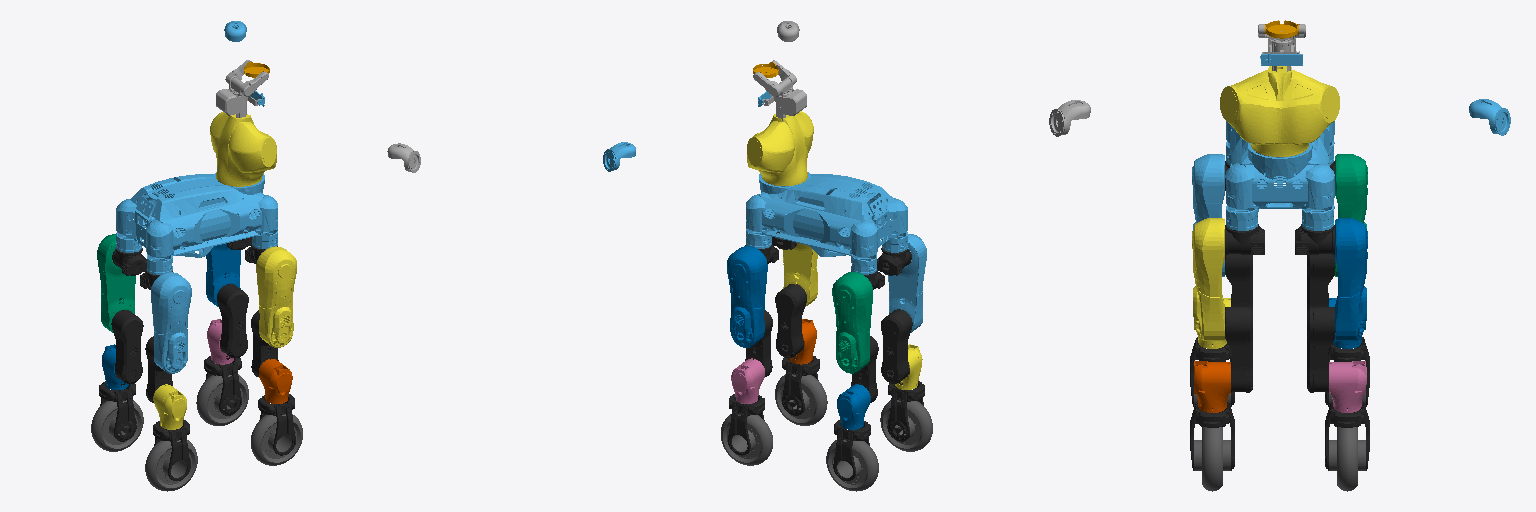
--- Facts derived from the render (not from the file) ---
The picture shows the robot from 3 angles, left to right: view 1: azimuth 30°, elevation 25°; view 2: azimuth 150°, elevation 25°; view 3: azimuth 270°, elevation 25°; orthographic projection.
Model centauro with 96 links and 95 joints (35 revolute, 4 continuous, 55 fixed, 1 floating), rooted at world, posed joints at zero except 2 at the middle of their limits (j_arm1_2 = 1.73, j_arm2_2 = -1.72).
Visible links, largest first — view 1: pelvis, torso_2, hip2_4, hip2_2, hip2_3, knee_3, knee_1, wheel_4, wheel_2, hip2_1, neck_1, wheel_1 (+13 smaller); view 2: pelvis, torso_2, hip2_1, hip2_3, hip2_4, knee_4, knee_2, wheel_3, wheel_1, hip2_2, neck_1, wheel_4 (+13 smaller); view 3: pelvis, torso_2, hip2_1, hip2_2, knee_1, knee_2, hip2_3, hip2_4, wheel_1, wheel_2, ankle1_1, ankle1_2 (+11 smaller).
Boxes of the visible links, box(x1,y1,x2,y2) form: pelvis: box(116, 172, 277, 274); torso_2: box(210, 112, 276, 186); hip2_4: box(151, 272, 191, 373); hip2_2: box(256, 246, 296, 347); hip2_3: box(97, 234, 135, 332); knee_3: box(111, 310, 143, 383); knee_1: box(217, 284, 248, 357); wheel_4: box(145, 440, 197, 491); wheel_2: box(251, 414, 302, 465); hip2_1: box(206, 243, 240, 306); neck_1: box(216, 60, 268, 117); wheel_1: box(196, 374, 248, 425); pelvis: box(746, 172, 907, 274); torso_2: box(747, 111, 813, 185); hip2_1: box(727, 246, 767, 347); hip2_3: box(832, 272, 872, 373); hip2_4: box(888, 234, 926, 332); knee_4: box(881, 309, 912, 383); knee_2: box(775, 284, 806, 357); wheel_3: box(826, 440, 878, 491); wheel_1: box(721, 414, 772, 465); hip2_2: box(782, 243, 817, 306); neck_1: box(753, 60, 806, 120); wheel_4: box(880, 400, 932, 451); pelvis: box(1225, 121, 1334, 230); torso_2: box(1220, 66, 1339, 156); hip2_1: box(1335, 218, 1367, 340); hip2_2: box(1192, 218, 1224, 340); knee_1: box(1307, 307, 1334, 392); knee_2: box(1225, 307, 1252, 392); hip2_3: box(1335, 154, 1367, 276); hip2_4: box(1192, 154, 1224, 276); wheel_1: box(1329, 427, 1365, 491); wheel_2: box(1194, 427, 1230, 491); ankle1_1: box(1329, 361, 1366, 412); ankle1_2: box(1194, 361, 1230, 412).
Bounding box of the posed robot: 1.02 × 1.52 × 1.7 m (x, y, z).
31 mesh visuals loaded from 25 distinct referenced files (12 binary STL); not drawn: 19 (reference not matched to a file when rendering).

URDF robot description (centauro):
<?xml version="1.0" ?>
<!-- =================================================================================== -->
<!-- |    This document was autogenerated by xacro from centauro.urdf.xacro            | -->
<!-- |    EDITING THIS FILE BY HAND IS NOT RECOMMENDED                                 | -->
<!-- =================================================================================== -->
<robot name="centauro">
  <!-- none, ball, dagana_fixed, dagana -->
  <!-- 
  ROS urdf definition of the CENTAURO humanoid robot by Istituto Italiano di Tecnologia
  
  Author: Enrico Mingo Hoffman
-->
  <!-- scaling facto for available peack torque link side, from 0 to 1 -->
  <material name="black">
    <color rgba="0.4 0.4 0.4 1"/>
  </material>
  <material name="dark">
    <color rgba="0.1 0.1 0.1 1"/>
  </material>
  <material name="dark_grey">
    <color rgba="0.2 0.2 0.2 1"/>
  </material>
  <!-- Note: the "23" suffix denotes the new bigger-size wheel -->
  <!-- ??? -->
  <!-- ??? -->
  <!-- Origin -->
  <!-- <xacro:property name="hip_yaw_lower" value="${[-2.827,-2.583, -2.583 ,-2.827]}"/>
<xacro:property name="hip_yaw_upper" value="${[ 2.583, 2.827,  2.827 , 2.583]}"/> -->
  <link name="base_link"/>
  <link name="pelvis">
    <inertial>
      <origin xyz="-0.0016320207 0.0026534004000000003 0.079167428"/>
      <mass value="26.584529"/>
      <inertia ixx="0.39195477" ixy="0.024781258999999996" ixz="0.017108606999999998" iyy="1.0000708999999999" iyz="0.0052627106000000005" izz="1.0679988999999999"/>
    </inertial>
    <visual>
      <origin rpy="0.0 0.0 0.0" xyz="0.0 0 0.0"/>
      <geometry>
        <mesh filename="package://centauro_urdf/meshes/v2/pelvis.stl" scale="0.001 0.001 0.001"/>
      </geometry>
    </visual>
    <collision>
      <origin rpy="0.0 0.0 0.0" xyz="0.0 0 0.0"/>
      <geometry>
        <mesh filename="package://centauro_urdf/meshes/simple/pelvis.stl" scale="0.001 0.001 0.001"/>
      </geometry>
    </collision>
  </link>
  <link name="imu_link"/>
  <joint name="imu_joint" type="fixed">
    <parent link="pelvis"/>
    <origin rpy="0.0 0.0 0.0" xyz="0.248316 0.0 0.015"/>
    <child link="imu_link"/>
  </joint>
  <joint name="base_joint" type="fixed">
    <parent link="pelvis"/>
    <child link="base_link"/>
    <origin rpy="0 0 0" xyz="0 0 0"/>
  </joint>
  <!-- torso links -->
  <link name="torso_2">
    <inertial>
      <origin xyz="-0.019497794 0.0045317835 0.13768283"/>
      <mass value="12.553731"/>
      <inertia ixx="0.063643392" ixy="8.939e-05" ixz="-0.00086873" iyy="0.02680235" iyz="-4.657e-05" izz="0.04743015"/>
    </inertial>
    <visual>
      <origin rpy="0.0 0.0 0.0" xyz="0.0 0 0.0"/>
      <geometry>
        <mesh filename="package://centauro_urdf/meshes/link1_no_head.stl" scale="0.001 0.001 0.001"/>
      </geometry>
    </visual>
    <collision>
      <origin rpy="0.0 0.0 0.0" xyz="0.0 0 0.0"/>
      <geometry>
        <mesh filename="package://centauro_urdf/meshes/simple/link1_no_head.stl" scale="0.001 0.001 0.001"/>
      </geometry>
    </collision>
  </link>
  <!-- /torso links -->
  <!-- torso joints -->
  <joint name="torso_yaw" type="revolute">
    <parent link="pelvis"/>
    <origin xyz="0.2 0.0 0.256"/>
    <child link="torso_2"/>
    <axis xyz="0 0 1"/>
    <limit effort="147" lower="-2.618" upper="2.618" velocity="5.7"/>
    <!-- TODO -->
  </joint>
  <!-- /torso joints -->
  <!-- /macro arms -->
  <!-- LINKS -->
  <!-- shoulder yaw-roll-->
  <link name="arm1_1">
    <inertial>
      <origin xyz="-0.0074457212 0.03410796 0.00010978102"/>
      <mass value="1.9628675"/>
      <inertia ixx="0.0053547717" ixy="0.00036428926" ixz="1.5089568e-05" iyy="0.0033923328" iyz="5.5692312e-05" izz="0.0068921413"/>
    </inertial>
    <visual>
      <origin rpy="0.0 0.0 0.0" xyz="0.0 0.0 0.0"/>
      <geometry>
        <mesh filename="package://centauro_urdf/meshes/ShoulderPitch.STL" scale="0.001 -0.001 0.001"/>
      </geometry>
      <material name="dark_grey"/>
    </visual>
    <collision>
      <origin rpy="0.0 0.0 0.0" xyz="0.0 0.0 0.0"/>
      <geometry>
        <mesh filename="package://centauro_urdf/meshes/simple/ShoulderPitch.STL" scale="0.001 -0.001 0.001"/>
      </geometry>
    </collision>
  </link>
  <!-- shoulder yaw-roll-->
  <!-- shoulder roll-pitch-->
  <link name="arm1_2">
    <inertial>
      <origin xyz="0.058142302 5.7450803e-05 -0.077477683"/>
      <mass value="1.8595811"/>
      <inertia ixx="0.013776643" ixy="3.7788675e-05" ixz="0.0037690171" iyy="0.015677464" iyz="-9.4893549e-06" izz="0.0046317657"/>
    </inertial>
    <visual>
      <origin rpy="0.0 0.0 0.0" xyz="0.0 0.0 0.0"/>
      <geometry>
        <mesh filename="package://centauro_urdf/meshes/ShoulderRoll.STL" scale="0.001 -0.001 0.001"/>
      </geometry>
    </visual>
    <collision>
      <origin rpy="0.0 0.0 0.0" xyz="0.0 0.0 0.0"/>
      <geometry>
        <mesh filename="package://centauro_urdf/meshes/simple/ShoulderRoll.STL" scale="0.001 -0.001 0.001"/>
      </geometry>
    </collision>
  </link>
  <!-- shoulder roll-pitch-->
  <!-- shoulder-elbow -->
  <link name="arm1_3">
    <inertial>
      <origin xyz="0.014625194 0.0008172672 -0.028333545"/>
      <mass value="1.6678109"/>
      <inertia ixx="0.0064480435" ixy="-0.00015639093" ixz="0.0012205359" iyy="0.0073372077" iyz="8.9941532e-05" izz="0.0036738448"/>
    </inertial>
    <visual>
      <origin rpy="0.0 0.0 0.0" xyz="0.0 0.0 0.0"/>
      <geometry>
        <mesh filename="package://centauro_urdf/meshes/ShoulderYaw.STL" scale="0.001 -0.001 0.001"/>
      </geometry>
      <material name="dark_grey"/>
    </visual>
    <collision>
      <origin rpy="0.0 0.0 0.0" xyz="0.0 0.0 0.0"/>
      <geometry>
        <mesh filename="package://centauro_urdf/meshes/simple/ShoulderYaw.STL" scale="0.001 -0.001 0.001"/>
      </geometry>
    </collision>
  </link>
  <!-- /shoulder-elbow -->
  <!-- elbow yaw-pitch -->
  <link name="arm1_4">
    <inertial>
      <origin xyz="-0.0076833067 -0.040302205 -0.043492779"/>
      <mass value="1.3157289"/>
      <inertia ixx="0.004330394" ixy="-0.00011737391" ixz="-0.00041923199" iyy="0.0038539919" iyz="-0.00079573038" izz="0.0017594689"/>
    </inertial>
    <visual>
      <origin rpy="0.0 0.0 0.0" xyz="0.0 0.0 0.0"/>
      <geometry>
        <mesh filename="package://centauro_urdf/meshes/Elbow.STL" scale="0.001 -0.001 0.001"/>
      </geometry>
    </visual>
    <collision>
      <origin rpy="0.0 0.0 0.0" xyz="0.0 0.0 0.0"/>
      <geometry>
        <mesh filename="package://centauro_urdf/meshes/simple/Elbow.STL" scale="0.001 -0.001 0.001"/>
      </geometry>
    </collision>
  </link>
  <!-- /elbow yaw-pitch -->
  <!-- elbow-wrist -->
  <link name="arm1_5">
    <inertial>
      <origin xyz="-0.00011079615 0.011590836 -0.07816026"/>
      <mass value="1.4908547"/>
      <inertia ixx="0.0085692128" ixy="1.7856252e-05" ixz="1.9379365e-05" iyy="0.0077454159" iyz="-0.00032860094" izz="0.0027441921"/>
    </inertial>
    <visual>
      <origin rpy="0.0 0.0 0.0" xyz="0.0 0.0 0.0"/>
      <geometry>
        <mesh filename="package://centauro_urdf/meshes/Forearm.STL" scale="0.001 -0.001 0.001"/>
      </geometry>
      <material name="dark_grey"/>
    </visual>
    <collision>
      <origin rpy="0.0 0.0 0.0" xyz="0.0 0.0 0.0"/>
      <geometry>
        <mesh filename="package://centauro_urdf/meshes/simple/Forearm.STL" scale="0.001 -0.001 0.001"/>
      </geometry>
    </collision>
  </link>
  <!-- /elbow-wrist -->
  <!-- wrist yaw-pitch -->
  <link name="arm1_6">
    <inertial>
      <origin xyz="-4.6502396e-06 -0.038014094 -0.069926878"/>
      <mass value="1.1263612"/>
      <inertia ixx="0.0051871784" ixy="2.724437e-05" ixz="2.2833496e-06" iyy="0.0048037789" iyz="-0.00072165653" izz="0.0012771388"/>
    </inertial>
    <visual>
      <origin rpy="0.0 0.0 0.0" xyz="0.0 0.0 0.0"/>
      <geometry>
        <mesh filename="package://centauro_urdf/meshes/wrist_pitch_right.stl" scale="0.001 -0.001 0.001"/>
      </geometry>
    </visual>
    <collision>
      <origin rpy="0.0 0.0 0.0" xyz="0.0 0.0 0.0"/>
      <geometry>
        <mesh filename="package://centauro_urdf/meshes/simple/wrist_pitch_right.stl" scale="0.001 -0.001 0.001"/>
      </geometry>
    </collision>
  </link>
  <!-- /wrist yaw-pitch -->
  <!-- <link name="arm${arm_num}_7">
      <inertial>
         <origin xyz="${Wrist_3_x} ${rot*Wrist_3_y} ${Wrist_3_z}"/>
         <mass value="${Wrist_3_mass}"/>
         <inertia ixx="${Wrist_3_xx}" ixy="${rot*Wrist_3_xy}" ixz="${Wrist_3_xz}" iyy="${Wrist_3_yy}" iyz="${rot*Wrist_3_yz}" izz="${Wrist_3_zz}"/>
      </inertial>

      <visual>
         <origin xyz="0.0 0.0 0.0"  rpy="0.0 0.0 0.0"/>
   <geometry>
      <mesh filename="package://centauro_urdf/meshes/ForearmYaw.STL" scale="0.001 ${-rot*0.001} 0.001" />
   </geometry>
         <material name="dark_grey"/>
      </visual>

      <collision>
         <origin xyz="0.0 0.0 0.0"  rpy="0.0 0.0 0.0"/>
   <geometry>
      <mesh filename="package://centauro_urdf/meshes/simple/ForearmYaw.STL" scale="0.001 ${-rot*0.001} 0.001" />
   </geometry>
      </collision>
   </link> -->
  <!-- /LINKS -->
  <!-- JOINTS -->
  <!-- shoulder yaw -->
  <joint name="j_arm1_1" type="revolute">
    <parent link="torso_2"/>
    <child link="arm1_1"/>
    <origin rpy="0.174533 0.0 -0.5235988" xyz="0.0457475 0.169137 0.116626"/>
    <axis xyz="0 1 0"/>
    <limit effort="147.0" lower="-3.312" upper="1.615" velocity="3.86"/>
  </joint>
  <!-- /shoulder yaw -->
  <!-- shoulder roll -->
  <joint name="j_arm1_2" type="revolute">
    <parent link="arm1_1"/>
    <child link="arm1_2"/>
    <origin rpy="-0.1745327 0.0 0.0" xyz="-0.09015 0.062 0.0"/>
    <axis xyz="1 0 0"/>
    <limit effort="147.0" lower="0.02" upper="3.431" velocity="3.86"/>
  </joint>
  <!-- /shoulder roll -->
  <!-- shoulder pitch-->
  <joint name="j_arm1_3" type="revolute">
    <parent link="arm1_2"/>
    <child link="arm1_3"/>
    <origin xyz="0.09015 0.0 -0.21815"/>
    <axis xyz="0 0 1"/>
    <limit effort="147.0" lower="-2.552" upper="2.566" velocity="6.06"/>
  </joint>
  <!-- /shoulder pitch -->
  <!-- elbow yaw -->
  <joint name="j_arm1_4" type="revolute">
    <parent link="arm1_3"/>
    <child link="arm1_4"/>
    <origin xyz="0.045 0.05515 -0.074"/>
    <axis xyz="0 1 0"/>
    <limit effort="147.0" lower="-2.465" upper="0.28" velocity="6.06"/>
  </joint>
  <!-- /elbow yaw -->
  <!-- elbow pitch-->
  <joint name="j_arm1_5" type="revolute">
    <parent link="arm1_4"/>
    <child link="arm1_5"/>
    <origin xyz="-0.015 -0.05515 -0.095"/>
    <axis xyz="0 0 1"/>
    <limit effort="55.0" lower="-2.569" upper="2.562" velocity="11.72"/>
  </joint>
  <!-- /elbow pitch-->
  <!-- wrist yaw-->
  <joint name="j_arm1_6" type="revolute">
    <parent link="arm1_5"/>
    <child link="arm1_6"/>
    <origin xyz="0.0 0.049 -0.156"/>
    <axis xyz="0 1 0"/>
    <limit effort="55.0" lower="-1.529" upper="1.509" velocity="11.72"/>
  </joint>
  <!-- /wrist yaw-->
  <!-- wrist pitch-->
  <!-- <joint name="j_arm${arm_num}_7" type="fixed">
      <parent link="arm${arm_num}_6"/>
      <child link="arm${arm_num}_7"/>
      <origin xyz="${Wrist_3_Ox} ${rot*Wrist_3_Oy} ${Wrist_3_Oz}"/>
      <axis xyz="0 0 1"/>
      <limit lower="${j_arm_7_lower[arm_num-1]}" upper="${j_arm_7_upper[arm_num-1]}" effort="${j_arm_7_torque[arm_num-1]}" velocity="${j_arm_7_velocity[arm_num-1]}"/>
   </joint> -->
  <!-- wrist pitch-->
  <!-- force-troque sensor -->
  <!-- end-effector -->
  <!-- wrist pitch-->
  <!-- <joint name="j_ft_${arm_num}" type="fixed">
      <parent link="arm${arm_num}_7"/>
      <child link="ft_arm${arm_num}"/>
      <origin xyz="${Ft_arm_Ox} ${Ft_arm_Oy} ${Ft_arm_Oz}" rpy="${Ft_arm_roll} ${Ft_arm_pitch} ${Ft_arm_yaw}" />
      <axis xyz="0 0 1"/>
      <limit lower="0.0" upper="0.0" effort="0" velocity="0"/>
   </joint> -->
  <!-- wrist pitch-->
  <!-- <link name="ft_arm${arm_num}">
      <inertial>
         <origin xyz="${Ft_arm_x} ${rot*Ft_arm_y} ${Ft_arm_z}"/>
         <mass value="${Ft_arm_mass}"/>
         <inertia ixx="${Ft_arm_xx}" ixy="${rot*Ft_arm_xy}" ixz="${Ft_arm_xz}" iyy="${Ft_arm_yy}" iyz="${rot*Ft_arm_yz}" izz="${Ft_arm_zz}"/>
      </inertial> -->
  <!--visual>
         <origin xyz="0.0 0.0 0.0"  rpy="${PI} 0.0 0.0"/>
   <geometry>
      <mesh filename="package://centauro_urdf/meshes/Wrist.STL" scale="0.001 ${-rot*0.001} 0.001" />
   </geometry>
      </visual-->
  <!--collision>
         <origin xyz="0.0 0.0 0.0"  rpy="${PI} 0.0 0.0"/>
   <geometry>
      <mesh filename="package://centauro_urdf/meshes/simple/Wrist.STL" scale="0.001 ${-rot*0.001} 0.001" />
   </geometry>
      </collision-->
  <!-- </link> -->
  <!-- LINKS -->
  <!-- shoulder yaw-roll-->
  <link name="arm2_1">
    <inertial>
      <origin xyz="-0.0074457212 -0.03410796 0.00010978102"/>
      <mass value="1.9628675"/>
      <inertia ixx="0.0053547717" ixy="-0.00036428926" ixz="1.5089568e-05" iyy="0.0033923328" iyz="-5.5692312e-05" izz="0.0068921413"/>
    </inertial>
    <visual>
      <origin rpy="0.0 0.0 0.0" xyz="0.0 0.0 0.0"/>
      <geometry>
        <mesh filename="package://centauro_urdf/meshes/ShoulderPitch.STL" scale="0.001 0.001 0.001"/>
      </geometry>
      <material name="dark_grey"/>
    </visual>
    <collision>
      <origin rpy="0.0 0.0 0.0" xyz="0.0 0.0 0.0"/>
      <geometry>
        <mesh filename="package://centauro_urdf/meshes/simple/ShoulderPitch.STL" scale="0.001 0.001 0.001"/>
      </geometry>
    </collision>
  </link>
  <!-- shoulder yaw-roll-->
  <!-- shoulder roll-pitch-->
  <link name="arm2_2">
    <inertial>
      <origin xyz="0.058142302 -5.7450803e-05 -0.077477683"/>
      <mass value="1.8595811"/>
      <inertia ixx="0.013776643" ixy="-3.7788675e-05" ixz="0.0037690171" iyy="0.015677464" iyz="9.4893549e-06" izz="0.0046317657"/>
    </inertial>
    <visual>
      <origin rpy="0.0 0.0 0.0" xyz="0.0 0.0 0.0"/>
      <geometry>
        <mesh filename="package://centauro_urdf/meshes/ShoulderRoll.STL" scale="0.001 0.001 0.001"/>
      </geometry>
    </visual>
    <collision>
      <origin rpy="0.0 0.0 0.0" xyz="0.0 0.0 0.0"/>
      <geometry>
        <mesh filename="package://centauro_urdf/meshes/simple/ShoulderRoll.STL" scale="0.001 0.001 0.001"/>
      </geometry>
    </collision>
  </link>
  <!-- shoulder roll-pitch-->
  <!-- shoulder-elbow -->
  <link name="arm2_3">
    <inertial>
      <origin xyz="0.014625194 -0.0008172672 -0.028333545"/>
      <mass value="1.6678109"/>
      <inertia ixx="0.0064480435" ixy="0.00015639093" ixz="0.0012205359" iyy="0.0073372077" iyz="-8.9941532e-05" izz="0.0036738448"/>
    </inertial>
    <visual>
      <origin rpy="0.0 0.0 0.0" xyz="0.0 0.0 0.0"/>
      <geometry>
        <mesh filename="package://centauro_urdf/meshes/ShoulderYaw.STL" scale="0.001 0.001 0.001"/>
      </geometry>
      <material name="dark_grey"/>
    </visual>
    <collision>
      <origin rpy="0.0 0.0 0.0" xyz="0.0 0.0 0.0"/>
      <geometry>
        <mesh filename="package://centauro_urdf/meshes/simple/ShoulderYaw.STL" scale="0.001 0.001 0.001"/>
      </geometry>
    </collision>
  </link>
  <!-- /shoulder-elbow -->
  <!-- elbow yaw-pitch -->
  <link name="arm2_4">
    <inertial>
      <origin xyz="-0.0076833067 0.040302205 -0.043492779"/>
      <mass value="1.3157289"/>
      <inertia ixx="0.004330394" ixy="0.00011737391" ixz="-0.00041923199" iyy="0.0038539919" iyz="0.00079573038" izz="0.0017594689"/>
    </inertial>
    <visual>
      <origin rpy="0.0 0.0 0.0" xyz="0.0 0.0 0.0"/>
      <geometry>
        <mesh filename="package://centauro_urdf/meshes/Elbow.STL" scale="0.001 0.001 0.001"/>
      </geometry>
    </visual>
    <collision>
      <origin rpy="0.0 0.0 0.0" xyz="0.0 0.0 0.0"/>
      <geometry>
        <mesh filename="package://centauro_urdf/meshes/simple/Elbow.STL" scale="0.001 0.001 0.001"/>
      </geometry>
    </collision>
  </link>
  <!-- /elbow yaw-pitch -->
  <!-- elbow-wrist -->
  <link name="arm2_5">
    <inertial>
      <origin xyz="-0.00011079615 -0.011590836 -0.07816026"/>
      <mass value="1.4908547"/>
      <inertia ixx="0.0085692128" ixy="-1.7856252e-05" ixz="1.9379365e-05" iyy="0.0077454159" iyz="0.00032860094" izz="0.0027441921"/>
    </inertial>
    <visual>
      <origin rpy="0.0 0.0 0.0" xyz="0.0 0.0 0.0"/>
      <geometry>
        <mesh filename="package://centauro_urdf/meshes/Forearm.STL" scale="0.001 0.001 0.001"/>
      </geometry>
      <material name="dark_grey"/>
    </visual>
    <collision>
      <origin rpy="0.0 0.0 0.0" xyz="0.0 0.0 0.0"/>
      <geometry>
        <mesh filename="package://centauro_urdf/meshes/simple/Forearm.STL" scale="0.001 0.001 0.001"/>
      </geometry>
    </collision>
  </link>
  <!-- /elbow-wrist -->
  <!-- wrist yaw-pitch -->
  <link name="arm2_6">
    <inertial>
      <origin xyz="-4.6502396e-06 0.038014094 -0.069926878"/>
      <mass value="1.1263612"/>
      <inertia ixx="0.0051871784" ixy="-2.724437e-05" ixz="2.2833496e-06" iyy="0.0048037789" iyz="0.00072165653" izz="0.0012771388"/>
    </inertial>
    <visual>
      <origin rpy="0.0 0.0 0.0" xyz="0.0 0.0 0.0"/>
      <geometry>
        <mesh filename="package://centauro_urdf/meshes/wrist_pitch_right.stl" scale="0.001 0.001 0.001"/>
      </geometry>
    </visual>
    <collision>
      <origin rpy="0.0 0.0 0.0" xyz="0.0 0.0 0.0"/>
      <geometry>
        <mesh filename="package://centauro_urdf/meshes/simple/wrist_pitch_right.stl" scale="0.001 0.001 0.001"/>
      </geometry>
    </collision>
  </link>
  <!-- /wrist yaw-pitch -->
  <!-- <link name="arm${arm_num}_7">
      <inertial>
         <origin xyz="${Wrist_3_x} ${rot*Wrist_3_y} ${Wrist_3_z}"/>
         <mass value="${Wrist_3_mass}"/>
         <inertia ixx="${Wrist_3_xx}" ixy="${rot*Wrist_3_xy}" ixz="${Wrist_3_xz}" iyy="${Wrist_3_yy}" iyz="${rot*Wrist_3_yz}" izz="${Wrist_3_zz}"/>
      </inertial>

      <visual>
         <origin xyz="0.0 0.0 0.0"  rpy="0.0 0.0 0.0"/>
   <geometry>
      <mesh filename="package://centauro_urdf/meshes/ForearmYaw.STL" scale="0.001 ${-rot*0.001} 0.001" />
   </geometry>
         <material name="dark_grey"/>
      </visual>

      <collision>
         <origin xyz="0.0 0.0 0.0"  rpy="0.0 0.0 0.0"/>
   <geometry>
      <mesh filename="package://centauro_urdf/meshes/simple/ForearmYaw.STL" scale="0.001 ${-rot*0.001} 0.001" />
   </geometry>
      </collision>
   </link> -->
  <!-- /LINKS -->
  <!-- JOINTS -->
  <!-- shoulder yaw -->
  <joint name="j_arm2_1" type="revolute">
    <parent link="torso_2"/>
    <child link="arm2_1"/>
    <origin rpy="-0.174533 0.0 0.5235988" xyz="0.0457475 -0.169137 0.116626"/>
    <axis xyz="0 1 0"/>
    <limit effort="147.0" lower="-3.3458" upper="1.6012" velocity="3.86"/>
  </joint>
  <!-- /shoulder yaw -->
  <!-- shoulder roll -->
  <joint name="j_arm2_2" type="revolute">
    <parent link="arm2_1"/>
    <child link="arm2_2"/>
    <origin rpy="0.1745327 0.0 0.0" xyz="-0.09015 -0.062 0.0"/>
    <axis xyz="1 0 0"/>
    <limit effort="147.0" lower="-3.4258" upper="-0.0138" velocity="3.86"/>
  </joint>
  <!-- /shoulder roll -->
  <!-- shoulder pitch-->
  <joint name="j_arm2_3" type="revolute">
    <parent link="arm2_2"/>
    <child link="arm2_3"/>
    <origin xyz="0.09015 0.0 -0.21815"/>
    <axis xyz="0 0 1"/>
    <limit effort="147.0" lower="-2.5614" upper="2.5606" velocity="6.06"/>
  </joint>
  <!-- /shoulder pitch -->
  <!-- elbow yaw -->
  <joint name="j_arm2_4" type="revolute">
    <parent link="arm2_3"/>
    <child link="arm2_4"/>
    <origin xyz="0.045 -0.05515 -0.074"/>
    <axis xyz="0 1 0"/>
    <limit effort="147.0" lower="-2.4794" upper="0.2886" velocity="6.06"/>
  </joint>
  <!-- /elbow yaw -->
  <!-- elbow pitch-->
  <joint name="j_arm2_5" type="revolute">
    <parent link="arm2_4"/>
    <child link="arm2_5"/>
    <origin xyz="-0.015 0.05515 -0.095"/>
    <axis xyz="0 0 1"/>
    <limit effort="55.0" lower="-2.5394" upper="2.5546" velocity="11.72"/>
  </joint>
  <!-- /elbow pitch-->
  <!-- wrist yaw-->
  <joint name="j_arm2_6" type="revolute">
    <parent link="arm2_5"/>
    <child link="arm2_6"/>
    <origin xyz="0.0 -0.049 -0.156"/>
    <axis xyz="0 1 0"/>
    <limit effort="55.0" lower="-1.5154" upper="1.5156" velocity="11.72"/>
  </joint>
  <!-- /wrist yaw-->
  <!-- wrist pitch-->
  <!-- <joint name="j_arm${arm_num}_7" type="fixed">
      <parent link="arm${arm_num}_6"/>
      <child link="arm${arm_num}_7"/>
      <origin xyz="${Wrist_3_Ox} ${rot*Wrist_3_Oy} ${Wrist_3_Oz}"/>
      <axis xyz="0 0 1"/>
      <limit lower="${j_arm_7_lower[arm_num-1]}" upper="${j_arm_7_upper[arm_num-1]}" effort="${j_arm_7_torque[arm_num-1]}" velocity="${j_arm_7_velocity[arm_num-1]}"/>
   </joint> -->
  <!-- wrist pitch-->
  <!-- force-troque sensor -->
  <!-- end-effector -->
  <!-- wrist pitch-->
  <!-- <joint name="j_ft_${arm_num}" type="fixed">
      <parent link="arm${arm_num}_7"/>
      <child link="ft_arm${arm_num}"/>
      <origin xyz="${Ft_arm_Ox} ${Ft_arm_Oy} ${Ft_arm_Oz}" rpy="${Ft_arm_roll} ${Ft_arm_pitch} ${Ft_arm_yaw}" />
      <axis xyz="0 0 1"/>
      <limit lower="0.0" upper="0.0" effort="0" velocity="0"/>
   </joint> -->
  <!-- wrist pitch-->
  <!-- <link name="ft_arm${arm_num}">
      <inertial>
         <origin xyz="${Ft_arm_x} ${rot*Ft_arm_y} ${Ft_arm_z}"/>
         <mass value="${Ft_arm_mass}"/>
         <inertia ixx="${Ft_arm_xx}" ixy="${rot*Ft_arm_xy}" ixz="${Ft_arm_xz}" iyy="${Ft_arm_yy}" iyz="${rot*Ft_arm_yz}" izz="${Ft_arm_zz}"/>
      </inertial> -->
  <!--visual>
         <origin xyz="0.0 0.0 0.0"  rpy="${PI} 0.0 0.0"/>
   <geometry>
      <mesh filename="package://centauro_urdf/meshes/Wrist.STL" scale="0.001 ${-rot*0.001} 0.001" />
   </geometry>
      </visual-->
  <!--collision>
         <origin xyz="0.0 0.0 0.0"  rpy="${PI} 0.0 0.0"/>
   <geometry>
      <mesh filename="package://centauro_urdf/meshes/simple/Wrist.STL" scale="0.001 ${-rot*0.001} 0.001" />
   </geometry>
      </collision-->
  <!-- </link> -->
  <link name="ball1">
    <inertial>
      <origin rpy="0 0 0" xyz="-1.0072498e-05 3.7590658e-05 0.019772332"/>
      <mass value="1.27"/>
      <inertia ixx="0.0023061092" ixy="2.9181758e-07" ixz="-2.1246683999999997e-07" iyy="0.0023053155000000002" iyz="7.9290978e-07" izz="0.0030675615999999997"/>
    </inertial>
    <visual>
      <origin rpy="0.0 0.0 0.0" xyz="0.0 0.0 0.0"/>
      <geometry name="ball1_visual">
        <mesh filename="package://centauro_urdf/meshes/BallHand.stl" scale="0.001 0.001 0.001"/>
      </geometry>
      <material name="dark_grey"/>
    </visual>
    <collision>
      <origin rpy="0.0 0.0 0.0" xyz="0.0 0.0 0.0"/>
      <geometry name="ball1_collision">
        <mesh filename="package://centauro_urdf/meshes/simple/BallHand.stl" scale="0.001 0.001 0.001"/>
      </geometry>
    </collision>
  </link>
  <link name="ball1_tip"/>
  <joint name="j_arm1_8" type="fixed">
    <parent link="arm1_6"/>
    <child link="ball1"/>
    <origin rpy="0. 0. 0." xyz="0. -0.05 -0.105"/>
  </joint>
  <joint name="j_ball1_tip" type="fixed">
    <parent link="ball1"/>
    <child link="ball1_tip"/>
    <origin rpy="0 0 0" xyz="0 0 -0.07"/>
  </joint>
  <!-- add armX_8 link for legacy reasons (same as ballX) -->
  <joint name="j_ball1_fixed" type="fixed">
    <parent link="ball1"/>
    <child link="arm1_8"/>
  </joint>
  <link name="arm1_8">
    <inertial>
      <mass value="0"/>
      <inertia ixx="0" ixy="0" ixz="0" iyy="0" iyz="0" izz="0"/>
    </inertial>
  </link>
  <joint name="dagana_2_mount_joint" type="fixed">
    <origin rpy="0. 3.14159265359 0" xyz="0. 0.05 -0.08"/>
    <parent link="arm2_6"/>
    <child link="dagana_2_top_link"/>
  </joint>
  <link name="dagana_2_top_link">
    <inertial>
      <origin rpy="0 0 0" xyz="-0.0063562154 -0.0060265532000000005  0.060068288000000004"/>
      <mass value="1.7432400"/>
      <inertia ixx="0.0050510328" ixy="-0.00025264216" ixz="-0.00012103013" iyy="0.0047944612" iyz="-0.00073917704" izz="0.0031156997"/>
    </inertial>
    <visual>
      <origin rpy="0 0 0" xyz="0 0 0"/>
      <geometry>
        <mesh filename="package://dagana_urdf/meshes/dg0001-simplified.stl" scale="0.001 0.001 0.001"/>
      </geometry>
      <material name="dark_grey"/>
    </visual>
    <collision>
      <origin rpy="0 0 0" xyz="0 0 0"/>
      <geometry>
        <mesh filename="package://dagana_urdf/meshes/dg0001-ch.stl" scale="0.001 0.001 0.001"/>
      </geometry>
      <material name="dark_grey"/>
    </collision>
  </link>
  <joint name="dagana_2_claw_joint" type="fixed">
    <origin rpy="1.57079632679 0 3.14159265359" xyz="0.0 -0.028 0.05025"/>
    <parent link="dagana_2_top_link"/>
    <child link="dagana_2_bottom_link"/>
    <axis xyz="-1 0 0"/>
    <limit effort="1000" lower="0" upper="1" velocity="2.0"/>
  </joint>
  <link name="dagana_2_bottom_link">
    <inertial>
      <origin rpy="0 0 0" xyz="0.069644767 0.0026548329 -0.041960263"/>
      <mass value="4.6117745e-01"/>
      <inertia ixx="0.0009385556899999999" ixy="-0.000264452" ixz="7.134683e-05" iyy="0.0019472731" iyz="2.529065e-06" izz="0.0014726990999999999"/>
    </inertial>
    <visual>
      <origin rpy="0 0 0" xyz="0 0 0"/>
      <geometry>
        <mesh filename="package://dagana_urdf/meshes/dg0002.stl" scale="0.001 0.001 0.001"/>
      </geometry>
      <material name="dark_grey"/>
    </visual>
    <collision>
      <origin rpy="0 0 0" xyz="0 0 0"/>
      <geometry>
        <mesh filename="package://dagana_urdf/meshes/dg0002-ch.stl" scale="0.001 0.001 0.001"/>
      </geometry>
      <material name="dark_grey"/>
    </collision>
  </link>
  <!-- Manually put to have a transform in a "good" grasping spot-->
  <joint name="dagana_2_tcp_joint" type="fixed">
    <origin rpy="0 0 0" xyz="0 -0.05 0.15"/>
    <parent link="dagana_2_top_link"/>
    <child link="dagana_2_tcp"/>
  </joint>
  <link name="dagana_2_tcp"/>
  <!-- add armX_8 link for compliance with srdf file -->
  <joint name="j_dagana_2_final" type="fixed">
    <parent link="dagana_2_bottom_link"/>
    <child link="arm2_8"/>
  </joint>
  <link name="arm2_8">
    <inertial>
      <mass value="0"/>
      <inertia ixx="0" ixy="0" ixz="0" iyy="0" iyz="0" izz="0"/>
    </inertial>
  </link>
  <!-- LINKS -->
  <link name="neck_1">
    <inertial>
      <origin xyz="0 0 0"/>
      <mass value="0.33878686"/>
      <!-- MASS/INERTIA TO DO -->
      <inertia ixx="0.0003718568" ixy="-9.42983e-05" ixz="-2.80644e-05" iyy="0.0001886879" iyz="-1.54534e-05" izz="0.0005023443"/>
    </inertial>
    <visual>
      <origin rpy="0.0 0.0 0.0" xyz="0.0 0 0.0"/>
      <geometry>
        <mesh filename="package://centauro_urdf/meshes/head-base_mesh.stl" scale="0.001 0.001 0.001"/>
      </geometry>
    </visual>
    <collision>
      <origin rpy="0.0 0.0 0.0" xyz="0.0 0 0.0"/>
      <geometry>
        <mesh filename="package://centauro_urdf/meshes/simple/head-base_mesh.stl" scale="0.001 0.001 0.001"/>
      </geometry>
    </collision>
  </link>
  <link name="velodyne_motor">
    <inertial>
      <origin xyz="0 0 0"/>
      <mass value="0.33878686"/>
      <!-- MASS/INERTIA TO DO -->
      <inertia ixx="0.0003718568" ixy="-9.42983e-05" ixz="-2.80644e-05" iyy="0.0001886879" iyz="-1.54534e-05" izz="0.0005023443"/>
    </inertial>
    <visual>
      <origin rpy="0.0 0.0 0.0" xyz="0.0 0 0.0"/>
      <geometry>
        <mesh filename="package://centauro_urdf/meshes/lidar_mesh.stl" scale="0.001 0.001 0.001"/>
      </geometry>
    </visual>
    <collision>
      <origin rpy="0.0 0.0 0.0" xyz="0.0 0 0.0"/>
      <geometry>
        <mesh filename="package://centauro_urdf/meshes/simple/lidar_mesh.stl" scale="0.001 0.001 0.001"/>
      </geometry>
    </collision>
  </link>
  <link name="d435_head_motor">
    <inertial>
      <origin xyz="0 0 0"/>
      <mass value="0.33878686"/>
      <!-- MASS/INERTIA TO DO -->
      <inertia ixx="0.0003718568" ixy="-9.42983e-05" ixz="-2.80644e-05" iyy="0.0001886879" iyz="-1.54534e-05" izz="0.0005023443"/>
    </inertial>
    <visual>
      <origin rpy="0.0 0.0 0.0" xyz="0.0 0 0.0"/>
      <geometry>
        <mesh filename="package://centauro_urdf/meshes/neck-pitch_mesh.stl" scale="0.001 0.001 0.001"/>
      </geometry>
    </visual>
    <collision>
      <origin rpy="0.0 0.0 0.0" xyz="0.0 0 0.0"/>
      <geometry>
        <mesh filename="package://centauro_urdf/meshes/simple/neck-pitch_mesh.stl" scale="0.001 0.001 0.001"/>
      </geometry>
    </collision>
  </link>
  <link name="d435_head_calib"/>
  <joint name="d435_head_calib_joint" type="fixed">
    <parent link="d435_head_motor"/>
    <child link="d435_head_calib"/>
    <!-- <origin xyz="1.06832322 0.03353594 0.1387841" rpy="-0.03851041 0.29866375 -0.06730427"/> -->
  </joint>
  <!--JOINTS -->
  <joint name="neck_base" type="fixed">
    <parent link="torso_2"/>
    <origin rpy="0 0 0" xyz="0.0030637045 0.0061607221 0.158"/>
    <child link="neck_1"/>
    <axis xyz="0 0 1"/>
  </joint>
  <joint name="velodyne_joint" type="revolute">
    <parent link="neck_1"/>
    <origin rpy="0 0 0" xyz="0.0822724 0 0.242"/>
    <child link="velodyne_motor"/>
    <axis xyz="0 -1 0"/>
    <limit effort="35" lower="-1.1" upper="1.1" velocity="5.7"/>
    <dynamics friction="10.0"/>
  </joint>
  <joint name="d435_head_joint" type="revolute">
    <parent link="neck_1"/>
    <origin rpy="0 0 0" xyz="0.06 0 0.1375"/>
    <child link="d435_head_motor"/>
    <axis xyz="0 -1 0"/>
    <limit effort="35" lower="-1.1" upper="1.1" velocity="5.7"/>
    <dynamics friction="10.0"/>
  </joint>
  <material name="D435_head_camera_aluminum">
    <color rgba="0.5 0.5 0.5 1"/>
  </material>
  <!-- camera body, with origin at bottom screw mount -->
  <joint name="D435_head_camera_joint" type="fixed">
    <origin rpy="0 0 0" xyz="0.03015 0 -0.0125"/>
    <parent link="d435_head_calib"/>
    <child link="D435_head_camera_bottom_screw_frame"/>
  </joint>
  <link name="D435_head_camera_bottom_screw_frame"/>
  <joint name="D435_head_camera_link_joint" type="fixed">
    <origin rpy="0 0 0" xyz="0 0.0175 0.0125"/>
    <parent link="D435_head_camera_bottom_screw_frame"/>
    <child link="D435_head_camera_link"/>
  </joint>
  <link name="D435_head_camera_link">
    <visual>
      <origin rpy="1.5707963267948966 0 1.5707963267948966" xyz="0.0149 -0.0175 0"/>
      <geometry>
        <!-- <box size="${d435i_cam_width} ${d435i_cam_height} ${d435i_cam_depth}"/> -->
        <mesh filename="package://realsense2_description/meshes/d435.dae"/>
        <!--<mesh filename="package://realsense2_description/meshes/d435/d435.dae"/>-->
      </geometry>
      <material name="D435_head_camera_aluminum"/>
    </visual>
    <collision>
      <origin rpy="0 0 0" xyz="0 -0.0175 0"/>
      <geometry>
        <box size="0.02505 0.09 0.025"/>
      </geometry>
    </collision>
    <inertial>
      <!-- The following are not reliable values, and should not be used for modeling -->
      <mass value="0.564"/>
      <origin xyz="0 0 0"/>
      <inertia ixx="0.003881243" ixy="0.0" ixz="0.0" iyy="0.000498940" iyz="0.0" izz="0.003879257"/>
    </inertial>
  </link>
  <!-- camera depth joints and links -->
  <joint name="D435_head_camera_depth_joint" type="fixed">
    <origin rpy="0 0 0" xyz="0 0 0"/>
    <parent link="D435_head_camera_link"/>
    <child link="D435_head_camera_depth_frame"/>
  </joint>
  <link name="D435_head_camera_depth_frame"/>
  <joint name="D435_head_camera_depth_optical_joint" type="fixed">
    <origin rpy="-1.5707963267948966 0 -1.5707963267948966" xyz="0 0 0"/>
    <parent link="D435_head_camera_depth_frame"/>
    <child link="D435_head_camera_depth_optical_frame"/>
  </joint>
  <link name="D435_head_camera_depth_optical_frame"/>
  <!-- camera left IR joints and links -->
  <joint name="D435_head_camera_left_ir_joint" type="fixed">
    <origin rpy="0 0 0" xyz="0 0.0 0"/>
    <parent link="D435_head_camera_depth_frame"/>
    <child link="D435_head_camera_left_ir_frame"/>
  </joint>
  <link name="D435_head_camera_left_ir_frame"/>
  <joint name="D435_head_camera_left_ir_optical_joint" type="fixed">
    <origin rpy="-1.5707963267948966 0 -1.5707963267948966" xyz="0 0 0"/>
    <parent link="D435_head_camera_left_ir_frame"/>
    <child link="D435_head_camera_left_ir_optical_frame"/>
  </joint>
  <link name="D435_head_camera_left_ir_optical_frame"/>
  <!-- camera right IR joints and links -->
  <joint name="D435_head_camera_right_ir_joint" type="fixed">
    <origin rpy="0 0 0" xyz="0 -0.05 0"/>
    <parent link="D435_head_camera_depth_frame"/>
    <child link="D435_head_camera_right_ir_frame"/>
  </joint>
  <link name="D435_head_camera_right_ir_frame"/>
  <joint name="D435_head_camera_right_ir_optical_joint" type="fixed">
    <origin rpy="-1.5707963267948966 0 -1.5707963267948966" xyz="0 0 0"/>
    <parent link="D435_head_camera_right_ir_frame"/>
    <child link="D435_head_camera_right_ir_optical_frame"/>
  </joint>
  <link name="D435_head_camera_right_ir_optical_frame"/>
  <!-- camera color joints and links -->
  <joint name="D435_head_camera_color_joint" type="fixed">
    <origin rpy="0 0 0" xyz="0 0.015 0"/>
    <parent link="D435_head_camera_depth_frame"/>
    <child link="D435_head_camera_color_frame"/>
  </joint>
  <link name="D435_head_camera_color_frame"/>
  <joint name="D435_head_camera_color_optical_joint" type="fixed">
    <origin rpy="-1.5707963267948966 0 -1.5707963267948966" xyz="0 0 0"/>
    <parent link="D435_head_camera_color_frame"/>
    <child link="D435_head_camera_color_optical_frame"/>
  </joint>
  <link name="D435_head_camera_color_optical_frame"/>
  <!-- camera accel joints and links -->
  <joint name="D435_head_camera_accel_joint" type="fixed">
    <origin rpy="0 0 0" xyz="-0.00174 0.00552 0.0176"/>
    <parent link="D435_head_camera_link"/>
    <child link="D435_head_camera_accel_frame"/>
  </joint>
  <link name="D435_head_camera_accel_frame"/>
  <joint name="D435_head_camera_accel_optical_joint" type="fixed">
    <origin rpy="-1.5707963267948966 0 -1.5707963267948966" xyz="0 0 0"/>
    <parent link="D435_head_camera_accel_frame"/>
    <child link="D435_head_camera_accel_optical_frame"/>
  </joint>
  <link name="D435_head_camera_accel_optical_frame"/>
  <!-- camera gyro joints and links -->
  <joint name="D435_head_camera_gyro_joint" type="fixed">
    <origin rpy="0 0 0" xyz="-0.00174 0.00552 0.0176"/>
    <parent link="D435_head_camera_link"/>
    <child link="D435_head_camera_gyro_frame"/>
  </joint>
  <link name="D435_head_camera_gyro_frame"/>
  <joint name="D435_head_camera_gyro_optical_joint" type="fixed">
    <origin rpy="-1.5707963267948966 0 -1.5707963267948966" xyz="0 0 0"/>
    <parent link="D435_head_camera_gyro_frame"/>
    <child link="D435_head_camera_gyro_optical_frame"/>
  </joint>
  <link name="D435_head_camera_gyro_optical_frame"/>
  <gazebo reference="D435_head_camera_link">
    <self_collide>0</self_collide>
    <enable_wind>0</enable_wind>
    <kinematic>0</kinematic>
    <!-- <gravity>1</gravity> -->
    <!--<mu>1</mu>-->
    <mu2>1</mu2>
    <fdir1>0 0 0</fdir1>
    <!--<slip1>0</slip1>
      <slip2>0</slip2>-->
    <kp>1e+13</kp>
    <kd>1</kd>
    <!--<max_vel>0.01</max_vel>
      <min_depth>0</min_depth>-->
    <sensor name="D435_head_cameracolor" type="camera">
      <camera name="D435_head_camera">
        <horizontal_fov>1.2112585008840648</horizontal_fov>
        <image>
          <width>1280</width>
          <height>720</height>
          <format>RGB_INT8</format>
        </image>
        <clip>
          <near>0.1</near>
          <far>100</far>
        </clip>
        <noise>
          <type>gaussian</type>
          <mean>0.0</mean>
          <stddev>0.007</stddev>
        </noise>
      </camera>
      <always_on>1</always_on>
      <update_rate>30</update_rate>
      <visualize>False</visualize>
    </sensor>
    <sensor name="D435_head_cameraired1" type="camera">
      <camera name="D435_head_camera">
        <horizontal_fov>1.4870205226991688</horizontal_fov>
        <image>
          <width>1280</width>
          <height>720</height>
          <format>L_INT8</format>
        </image>
        <clip>
          <near>0.1</near>
          <far>100</far>
        </clip>
        <noise>
          <type>gaussian</type>
          <mean>0.0</mean>
          <stddev>0.05</stddev>
        </noise>
      </camera>
      <always_on>1</always_on>
      <update_rate>90</update_rate>
      <visualize>false</visualize>
    </sensor>
    <sensor name="D435_head_cameraired2" type="camera">
      <camera name="D435_head_camera">
        <horizontal_fov>1.4870205226991688</horizontal_fov>
        <image>
          <width>1280</width>
          <height>720</height>
          <format>L_INT8</format>
        </image>
        <clip>
          <near>0.1</near>
          <far>100</far>
        </clip>
        <noise>
          <type>gaussian</type>
          <mean>0.0</mean>
          <stddev>0.05</stddev>
        </noise>
      </camera>
      <always_on>1</always_on>
      <update_rate>90</update_rate>
      <visualize>false</visualize>
    </sensor>
    <sensor name="D435_head_cameradepth" type="depth">
      <camera name="D435_head_camera">
        <horizontal_fov>1.2112585008840648</horizontal_fov>
        <image>
          <width>1280</width>
          <height>720</height>
        </image>
        <clip>
          <near>0.1</near>
          <far>100</far>
        </clip>
        <noise>
          <type>gaussian</type>
          <mean>0.0</mean>
          <stddev>0.100</stddev>
        </noise>
      </camera>
      <always_on>1</always_on>
      <update_rate>30</update_rate>
      <visualize>false</visualize>
    </sensor>
    <sensor name="D435_head_cameraaccel" type="imu">
      <always_on>true</always_on>
      <update_rate>300</update_rate>
      <topic>D435_head_camera/accel/sample</topic>
      <plugin filename="librealsense_gazebo_accel_sensor.so" name="D435_head_camera_accel_plugin">
        <topicName>D435_head_camera/accel/sample</topicName>
        <bodyName>D435_head_camera_link</bodyName>
        <updateRateHZ>300</updateRateHZ>
        <gaussianNoise>0.1</gaussianNoise>
        <xyzOffset>0 0 0</xyzOffset>
        <rpyOffset>0 0 0</rpyOffset>
        <frameName>D435_head_camera_accel_optical_frame</frameName>
        <initialOrientationAsReference>false</initialOrientationAsReference>
      </plugin>
      <pose>0 0 0 0 0 0</pose>
    </sensor>
    <sensor name="D435_head_cameragyro" type="imu">
      <always_on>true</always_on>
      <update_rate>300</update_rate>
      <topic>D435_head_camera/gyro/sample</topic>
      <plugin filename="librealsense_gazebo_gyro_sensor.so" name="D435_head_camera_gyro_plugin">
        <topicName>D435_head_camera/gyro/sample</topicName>
        <bodyName>D435_head_camera_link</bodyName>
        <updateRateHZ>300</updateRateHZ>
        <gaussianNoise>0.1</gaussianNoise>
        <xyzOffset>0 0 0</xyzOffset>
        <rpyOffset>0 0 0</rpyOffset>
        <frameName>D435_head_camera_gyro_optical_frame</frameName>
        <initialOrientationAsReference>false</initialOrientationAsReference>
      </plugin>
    </sensor>
  </gazebo>
  <gazebo>
    <plugin filename="librealsense_gazebo_plugin.so" name="D435_head_camera">
      <prefix>D435_head_camera</prefix>
      <!-- Color camera settings -->
      <colorUpdateRate>30</colorUpdateRate>
      <colorTopicName>color/image_raw</colorTopicName>
      <colorOpticalframeName>D435_head_camera_color_optical_frame</colorOpticalframeName>
      <colorCameraInfoTopicName>color/camera_info</colorCameraInfoTopicName>
      <!-- Infrared camera settings -->
      <infraredUpdateRate>90</infraredUpdateRate>
      <infrared1TopicName>infra1/image_rect_raw</infrared1TopicName>
      <infrared2TopicName>infra2/image_rect_raw</infrared2TopicName>
      <infrared1CameraInfoTopicName>infra1/camera_info</infrared1CameraInfoTopicName>
      <infrared2CameraInfoTopicName>infra2/camera_info</infrared2CameraInfoTopicName>
      <infrared1OpticalframeName>D435_head_camera_left_ir_optical_frame</infrared1OpticalframeName>
      <infrared2OpticalframeName>D435_head_camera_right_ir_optical_frame</infrared2OpticalframeName>
      <!-- Depth camera settings -->
      <rangeMinDepth>0.2</rangeMinDepth>
      <rangeMaxDepth>10.0</rangeMaxDepth>
      <depthUpdateRate>30</depthUpdateRate>
      <depthTopicName>aligned_depth_to_color/image_raw</depthTopicName>
      <depthCameraInfoTopicName>aligned_depth_to_color/camera_info</depthCameraInfoTopicName>
      <depthOpticalframeName>D435_head_camera_color_optical_frame</depthOpticalframeName>
      <!-- Pointlcloud settings -->
      <pointCloud>True</pointCloud>
      <pointCloudTopicName>depth/color/points</pointCloudTopicName>
      <pointCloudCutoff>0.5</pointCloudCutoff>
    </plugin>
  </gazebo>
  <joint name="velodyne_calib_base_mount_joint" type="fixed">
    <origin rpy="0.025 0.019 0" xyz="-0.01 0.02 0.06"/>
    <parent link="velodyne_motor"/>
    <child link="velodyne_calib_base_link"/>
  </joint>
  <link name="velodyne_calib_base_link">
    <inertial>
      <mass value="0.83"/>
      <origin xyz="0 0 0.03585"/>
      <inertia ixx="0.000908059425" ixy="0" ixz="0" iyy="0.000908059425" iyz="0" izz="0.0011049624"/>
    </inertial>
    <visual>
      <geometry>
        <mesh filename="package://velodyne_description/meshes/VLP16_base_1.dae"/>
      </geometry>
    </visual>
    <visual>
      <geometry>
        <mesh filename="package://velodyne_description/meshes/VLP16_base_2.dae"/>
      </geometry>
    </visual>
    <collision>
      <origin rpy="0 0 0" xyz="0 0 0.03585"/>
      <geometry>
        <cylinder length="0.0717" radius="0.0516"/>
      </geometry>
    </collision>
  </link>
  <joint name="velodyne_calib_base_scan_joint" type="fixed">
    <origin rpy="0 0 0" xyz="0 0 0.0377"/>
    <parent link="velodyne_calib_base_link"/>
    <child link="velodyne_calib"/>
  </joint>
  <link name="velodyne_calib">
    <inertial>
      <mass value="0.01"/>
      <origin xyz="0 0 0"/>
      <inertia ixx="1e-7" ixy="0" ixz="0" iyy="1e-7" iyz="0" izz="1e-7"/>
    </inertial>
    <visual>
      <origin xyz="0 0 -0.0377"/>
      <geometry>
        <mesh filename="package://velodyne_description/meshes/VLP16_scan.dae"/>
      </geometry>
    </visual>
    <collision>
      <geometry>
        <sphere radius="0"/>
      </geometry>
    </collision>
  </link>
  <!-- Gazebo requires the velodyne_gazebo_plugins package -->
  <gazebo reference="velodyne_calib">
    <sensor name="velodyne_calib-VLP16" type="ray">
      <pose>0 0 0 0 0 0</pose>
      <visualize>false</visualize>
      <update_rate>10</update_rate>
      <ray>
        <scan>
          <horizontal>
            <samples>440</samples>
            <resolution>1</resolution>
            <min_angle>-3.141592653589793</min_angle>
            <max_angle>3.141592653589793</max_angle>
          </horizontal>
          <vertical>
            <samples>16</samples>
            <resolution>1</resolution>
            <min_angle>-0.2617993877991494</min_angle>
            <max_angle> 0.2617993877991494</max_angle>
          </vertical>
        </scan>
        <range>
          <min>0.3</min>
          <max>131.0</max>
          <resolution>0.001</resolution>
        </range>
        <noise>
          <type>gaussian</type>
          <mean>0.0</mean>
          <stddev>0.0</stddev>
        </noise>
      </ray>
      <plugin filename="libgazebo_ros_velodyne_laser.so" name="gazebo_ros_laser_controller">
        <topicName>/velodyne_points</topicName>
        <frameName>velodyne_calib</frameName>
        <organize_cloud>False</organize_cloud>
        <min_range>0.9</min_range>
        <max_range>130.0</max_range>
        <gaussianNoise>0.008</gaussianNoise>
      </plugin>
    </sensor>
  </gazebo>
  <material name="D435i_camera_aluminum">
    <color rgba="0.5 0.5 0.5 1"/>
  </material>
  <!-- camera body, with origin at bottom screw mount -->
  <joint name="D435i_camera_joint" type="fixed">
    <origin rpy="0 0.54 0" xyz="0.272 0 0.084"/>
    <parent link="pelvis"/>
    <child link="D435i_camera_bottom_screw_frame"/>
  </joint>
  <link name="D435i_camera_bottom_screw_frame"/>
  <joint name="D435i_camera_link_joint" type="fixed">
    <origin rpy="0 0 0" xyz="0 0.0175 0.0125"/>
    <parent link="D435i_camera_bottom_screw_frame"/>
    <child link="D435i_camera_link"/>
  </joint>
  <link name="D435i_camera_link">
    <visual>
      <origin rpy="1.5707963267948966 0 1.5707963267948966" xyz="0.0149 -0.0175 0"/>
      <geometry>
        <!-- <box size="${d435i_cam_width} ${d435i_cam_height} ${d435i_cam_depth}"/> -->
        <mesh filename="package://realsense2_description/meshes/d435.dae"/>
        <!--<mesh filename="package://realsense2_description/meshes/d435/d435.dae"/>-->
      </geometry>
      <material name="D435i_camera_aluminum"/>
    </visual>
    <collision>
      <origin rpy="0 0 0" xyz="0 -0.0175 0"/>
      <geometry>
        <box size="0.02505 0.09 0.025"/>
      </geometry>
    </collision>
    <inertial>
      <!-- The following are not reliable values, and should not be used for modeling -->
      <mass value="0.564"/>
      <origin xyz="0 0 0"/>
      <inertia ixx="0.003881243" ixy="0.0" ixz="0.0" iyy="0.000498940" iyz="0.0" izz="0.003879257"/>
    </inertial>
  </link>
  <!-- camera depth joints and links -->
  <joint name="D435i_camera_depth_joint" type="fixed">
    <origin rpy="0 0 0" xyz="0 0 0"/>
    <parent link="D435i_camera_link"/>
    <child link="D435i_camera_depth_frame"/>
  </joint>
  <link name="D435i_camera_depth_frame"/>
  <joint name="D435i_camera_depth_optical_joint" type="fixed">
    <origin rpy="-1.5707963267948966 0 -1.5707963267948966" xyz="0 0 0"/>
    <parent link="D435i_camera_depth_frame"/>
    <child link="D435i_camera_depth_optical_frame"/>
  </joint>
  <link name="D435i_camera_depth_optical_frame"/>
  <!-- camera left IR joints and links -->
  <joint name="D435i_camera_left_ir_joint" type="fixed">
    <origin rpy="0 0 0" xyz="0 0.0 0"/>
    <parent link="D435i_camera_depth_frame"/>
    <child link="D435i_camera_left_ir_frame"/>
  </joint>
  <link name="D435i_camera_left_ir_frame"/>
  <joint name="D435i_camera_left_ir_optical_joint" type="fixed">
    <origin rpy="-1.5707963267948966 0 -1.5707963267948966" xyz="0 0 0"/>
    <parent link="D435i_camera_left_ir_frame"/>
    <child link="D435i_camera_left_ir_optical_frame"/>
  </joint>
  <link name="D435i_camera_left_ir_optical_frame"/>
  <!-- camera right IR joints and links -->
  <joint name="D435i_camera_right_ir_joint" type="fixed">
    <origin rpy="0 0 0" xyz="0 -0.05 0"/>
    <parent link="D435i_camera_depth_frame"/>
    <child link="D435i_camera_right_ir_frame"/>
  </joint>
  <link name="D435i_camera_right_ir_frame"/>
  <joint name="D435i_camera_right_ir_optical_joint" type="fixed">
    <origin rpy="-1.5707963267948966 0 -1.5707963267948966" xyz="0 0 0"/>
    <parent link="D435i_camera_right_ir_frame"/>
    <child link="D435i_camera_right_ir_optical_frame"/>
  </joint>
  <link name="D435i_camera_right_ir_optical_frame"/>
  <!-- camera color joints and links -->
  <joint name="D435i_camera_color_joint" type="fixed">
    <origin rpy="0 0 0" xyz="0 0.015 0"/>
    <parent link="D435i_camera_depth_frame"/>
    <child link="D435i_camera_color_frame"/>
  </joint>
  <link name="D435i_camera_color_frame"/>
  <joint name="D435i_camera_color_optical_joint" type="fixed">
    <origin rpy="-1.5707963267948966 0 -1.5707963267948966" xyz="0 0 0"/>
    <parent link="D435i_camera_color_frame"/>
    <child link="D435i_camera_color_optical_frame"/>
  </joint>
  <link name="D435i_camera_color_optical_frame"/>
  <!-- camera accel joints and links -->
  <joint name="D435i_camera_accel_joint" type="fixed">
    <origin rpy="0 0 0" xyz="-0.00174 0.00552 0.0176"/>
    <parent link="D435i_camera_link"/>
    <child link="D435i_camera_accel_frame"/>
  </joint>
  <link name="D435i_camera_accel_frame"/>
  <joint name="D435i_camera_accel_optical_joint" type="fixed">
    <origin rpy="-1.5707963267948966 0 -1.5707963267948966" xyz="0 0 0"/>
    <parent link="D435i_camera_accel_frame"/>
    <child link="D435i_camera_accel_optical_frame"/>
  </joint>
  <link name="D435i_camera_accel_optical_frame"/>
  <!-- camera gyro joints and links -->
  <joint name="D435i_camera_gyro_joint" type="fixed">
    <origin rpy="0 0 0" xyz="-0.00174 0.00552 0.0176"/>
    <parent link="D435i_camera_link"/>
    <child link="D435i_camera_gyro_frame"/>
  </joint>
  <link name="D435i_camera_gyro_frame"/>
  <joint name="D435i_camera_gyro_optical_joint" type="fixed">
    <origin rpy="-1.5707963267948966 0 -1.5707963267948966" xyz="0 0 0"/>
    <parent link="D435i_camera_gyro_frame"/>
    <child link="D435i_camera_gyro_optical_frame"/>
  </joint>
  <link name="D435i_camera_gyro_optical_frame"/>
  <gazebo reference="D435i_camera_link">
    <self_collide>0</self_collide>
    <enable_wind>0</enable_wind>
    <kinematic>0</kinematic>
    <!-- <gravity>1</gravity> -->
    <!--<mu>1</mu>-->
    <mu2>1</mu2>
    <fdir1>0 0 0</fdir1>
    <!--<slip1>0</slip1>
      <slip2>0</slip2>-->
    <kp>1e+13</kp>
    <kd>1</kd>
    <!--<max_vel>0.01</max_vel>
      <min_depth>0</min_depth>-->
    <sensor name="D435i_cameracolor" type="camera">
      <camera name="D435i_camera">
        <horizontal_fov>1.2112585008840648</horizontal_fov>
        <image>
          <width>1280</width>
          <height>720</height>
          <format>RGB_INT8</format>
        </image>
        <clip>
          <near>0.1</near>
          <far>100</far>
        </clip>
        <noise>
          <type>gaussian</type>
          <mean>0.0</mean>
          <stddev>0.007</stddev>
        </noise>
      </camera>
      <always_on>1</always_on>
      <update_rate>30</update_rate>
      <visualize>False</visualize>
    </sensor>
    <sensor name="D435i_cameraired1" type="camera">
      <camera name="D435i_camera">
        <horizontal_fov>1.4870205226991688</horizontal_fov>
        <image>
          <width>1280</width>
          <height>720</height>
          <format>L_INT8</format>
        </image>
        <clip>
          <near>0.1</near>
          <far>100</far>
        </clip>
        <noise>
          <type>gaussian</type>
          <mean>0.0</mean>
          <stddev>0.05</stddev>
        </noise>
      </camera>
      <always_on>1</always_on>
      <update_rate>90</update_rate>
      <visualize>false</visualize>
    </sensor>
    <sensor name="D435i_cameraired2" type="camera">
      <camera name="D435i_camera">
        <horizontal_fov>1.4870205226991688</horizontal_fov>
        <image>
          <width>1280</width>
          <height>720</height>
          <format>L_INT8</format>
        </image>
        <clip>
          <near>0.1</near>
          <far>100</far>
        </clip>
        <noise>
          <type>gaussian</type>
          <mean>0.0</mean>
          <stddev>0.05</stddev>
        </noise>
      </camera>
      <always_on>1</always_on>
      <update_rate>90</update_rate>
      <visualize>false</visualize>
    </sensor>
    <sensor name="D435i_cameradepth" type="depth">
      <camera name="D435i_camera">
        <horizontal_fov>1.2112585008840648</horizontal_fov>
        <image>
          <width>1280</width>
          <height>720</height>
        </image>
        <clip>
          <near>0.1</near>
          <far>100</far>
        </clip>
        <noise>
          <type>gaussian</type>
          <mean>0.0</mean>
          <stddev>0.100</stddev>
        </noise>
      </camera>
      <always_on>1</always_on>
      <update_rate>30</update_rate>
      <visualize>false</visualize>
    </sensor>
    <sensor name="D435i_cameraaccel" type="imu">
      <always_on>true</always_on>
      <update_rate>300</update_rate>
      <topic>D435i_camera/accel/sample</topic>
      <plugin filename="librealsense_gazebo_accel_sensor.so" name="D435i_camera_accel_plugin">
        <topicName>D435i_camera/accel/sample</topicName>
        <bodyName>D435i_camera_link</bodyName>
        <updateRateHZ>300</updateRateHZ>
        <gaussianNoise>0.1</gaussianNoise>
        <xyzOffset>0 0 0</xyzOffset>
        <rpyOffset>0 0 0</rpyOffset>
        <frameName>D435i_camera_accel_optical_frame</frameName>
        <initialOrientationAsReference>false</initialOrientationAsReference>
      </plugin>
      <pose>0 0 0 0 0 0</pose>
    </sensor>
    <sensor name="D435i_cameragyro" type="imu">
      <always_on>true</always_on>
      <update_rate>300</update_rate>
      <topic>D435i_camera/gyro/sample</topic>
      <plugin filename="librealsense_gazebo_gyro_sensor.so" name="D435i_camera_gyro_plugin">
        <topicName>D435i_camera/gyro/sample</topicName>
        <bodyName>D435i_camera_link</bodyName>
        <updateRateHZ>300</updateRateHZ>
        <gaussianNoise>0.1</gaussianNoise>
        <xyzOffset>0 0 0</xyzOffset>
        <rpyOffset>0 0 0</rpyOffset>
        <frameName>D435i_camera_gyro_optical_frame</frameName>
        <initialOrientationAsReference>false</initialOrientationAsReference>
      </plugin>
    </sensor>
  </gazebo>
  <gazebo>
    <plugin filename="librealsense_gazebo_plugin.so" name="D435i_camera">
      <prefix>D435i_camera</prefix>
      <!-- Color camera settings -->
      <colorUpdateRate>30</colorUpdateRate>
      <colorTopicName>color/image_raw</colorTopicName>
      <colorOpticalframeName>D435i_camera_color_optical_frame</colorOpticalframeName>
      <colorCameraInfoTopicName>color/camera_info</colorCameraInfoTopicName>
      <!-- Infrared camera settings -->
      <infraredUpdateRate>90</infraredUpdateRate>
      <infrared1TopicName>infra1/image_rect_raw</infrared1TopicName>
      <infrared2TopicName>infra2/image_rect_raw</infrared2TopicName>
      <infrared1CameraInfoTopicName>infra1/camera_info</infrared1CameraInfoTopicName>
      <infrared2CameraInfoTopicName>infra2/camera_info</infrared2CameraInfoTopicName>
      <infrared1OpticalframeName>D435i_camera_left_ir_optical_frame</infrared1OpticalframeName>
      <infrared2OpticalframeName>D435i_camera_right_ir_optical_frame</infrared2OpticalframeName>
      <!-- Depth camera settings -->
      <rangeMinDepth>0.2</rangeMinDepth>
      <rangeMaxDepth>10.0</rangeMaxDepth>
      <depthUpdateRate>30</depthUpdateRate>
      <depthTopicName>aligned_depth_to_color/image_raw</depthTopicName>
      <depthCameraInfoTopicName>aligned_depth_to_color/camera_info</depthCameraInfoTopicName>
      <depthOpticalframeName>D435i_camera_color_optical_frame</depthOpticalframeName>
      <!-- Pointlcloud settings -->
      <pointCloud>True</pointCloud>
      <pointCloudTopicName>depth/color/points</pointCloudTopicName>
      <pointCloudCutoff>0.5</pointCloudCutoff>
    </plugin>
  </gazebo>
  <material name="T265_camera_aluminum">
    <color rgba="0.5 0.5 0.5 1"/>
  </material>
  <!-- camera body, with origin at camera_pose_frame -->
  <joint name="T265_camera_pose_joint" type="fixed">
    <origin rpy="0 0 0" xyz="0.29245 0.00775 0.063"/>
    <parent link="pelvis"/>
    <child link="T265_camera_pose_frame"/>
  </joint>
  <link name="T265_camera_pose_frame">
    <visual>
      <origin rpy="1.5707963267948966 0 1.5707963267948966" xyz="0 0 0"/>
      <geometry>
        <mesh filename="package://realsense_gazebo_description/meshes/t265_full.stl" scale="0.001 0.001 0.001"/>
      </geometry>
      <material name="T265_camera_aluminum"/>
    </visual>
    <collision>
      <origin rpy="1.5707963267948966 0 1.5707963267948966" xyz="0 0 0"/>
      <geometry>
        <mesh filename="package://realsense_gazebo_description/meshes/t265_simplified.stl" scale="0.001 0.001 0.001"/>
      </geometry>
    </collision>
    <inertial>
      <!-- The following are not reliable values, and should not be used for modeling -->
      <mass value="0.068024"/>
      <origin xyz="0 0 0"/>
      <inertia ixx="0.0000039782" ixy="0.0" ixz="0.000000034641" iyy="0.000065045" iyz="0.0" izz="0.000067499"/>
    </inertial>
  </link>
  <!-- camera body, with origin at camera_link -->
  <joint name="T265_camera_link_joint" type="fixed">
    <origin rpy="1.5707963267948966 0 -1.5707963267948966" xyz="0 0 0"/>
    <parent link="T265_camera_pose_frame"/>
    <child link="T265_camera_link"/>
  </joint>
  <link name="T265_camera_link"/>
  <joint name="T265_camera_fisheye1_rgb_joint" type="fixed">
    <origin rpy="0 1.5707963267948966 1.5707963267948966" xyz="-0.0411 0.0 0.0"/>
    <parent link="T265_camera_link"/>
    <child link="T265_camera_fisheye1_rgb_frame"/>
  </joint>
  <link name="T265_camera_fisheye1_rgb_frame"/>
  <joint name="T265_camera_fisheye2_rgb_joint" type="fixed">
    <origin rpy="0 1.5707963267948966 1.5707963267948966" xyz="0.0229 0.0 0.0"/>
    <parent link="T265_camera_link"/>
    <child link="T265_camera_fisheye2_rgb_frame"/>
  </joint>
  <link name="T265_camera_fisheye2_rgb_frame"/>
  <joint name="T265_camera_fisheye1_optical_joint" type="fixed">
    <origin rpy="-1.5707963267948966 0 -1.5707963267948966" xyz="0 0 0"/>
    <parent link="T265_camera_fisheye1_rgb_frame"/>
    <child link="T265_camera_fisheye1_optical_frame"/>
  </joint>
  <link name="T265_camera_fisheye1_optical_frame"/>
  <joint name="T265_camera_fisheye2_optical_joint" type="fixed">
    <origin rpy="-1.5707963267948966 0 -1.5707963267948966" xyz="0 0 0"/>
    <parent link="T265_camera_fisheye2_rgb_frame"/>
    <child link="T265_camera_fisheye2_optical_frame"/>
  </joint>
  <link name="T265_camera_fisheye2_optical_frame"/>
  <!-- IMU joints and links -->
  <joint name="T265_camera_accel_joint" type="fixed">
    <origin rpy="0 3.141592653589793 0" xyz="-0.0311 0 0.00655"/>
    <parent link="T265_camera_link"/>
    <child link="T265_camera_accel_frame"/>
  </joint>
  <link name="T265_camera_accel_frame"/>
  <joint name="T265_camera_accel_optical_joint" type="fixed">
    <origin rpy="0 3.141592653589793 0" xyz="-0.0311 0 0.00655"/>
    <parent link="T265_camera_accel_frame"/>
    <child link="T265_camera_accel_optical_frame"/>
  </joint>
  <link name="T265_camera_accel_optical_frame"/>
  <joint name="T265_camera_gyro_joint" type="fixed">
    <origin rpy="0 3.141592653589793 0" xyz="-0.0311 0 0.00655"/>
    <parent link="T265_camera_link"/>
    <child link="T265_camera_gyro_frame"/>
  </joint>
  <link name="T265_camera_gyro_frame"/>
  <joint name="T265_camera_gyro_optical_joint" type="fixed">
    <origin rpy="0 0 0" xyz="0 0 0"/>
    <parent link="T265_camera_gyro_frame"/>
    <child link="T265_camera_gyro_optical_frame"/>
  </joint>
  <link name="T265_camera_gyro_optical_frame"/>
  <!-- Load parameters to model's main link-->
  <gazebo reference="T265_camera_fisheye1_rgb_frame">
    <self_collide>0</self_collide>
    <enable_wind>0</enable_wind>
    <kinematic>0</kinematic>
    <!-- <gravity>1</gravity> -->
    <!--<mu>1</mu>-->
    <mu2>1</mu2>
    <fdir1>0 0 0</fdir1>
    <!--<slip1>0</slip1>
      <slip2>0</slip2>-->
    <kp>1e+13</kp>
    <kd>1</kd>
    <!--<max_vel>0.01</max_vel>
      <min_depth>0</min_depth>-->
    <sensor name="T265_camerafisheye1" type="wideanglecamera">
      <!-- <origin xyz="0 0 0" rpy="0 ${M_PI/2} 0"/> -->
      <update_rate>30</update_rate>
      <camera>
        <horizontal_fov>1.95</horizontal_fov>
        <image>
          <width>848</width>
          <height>800</height>
        </image>
        <clip>
          <near>0.2</near>
          <far>100</far>
        </clip>
        <lens>
          <!-- type element is mandatory -->
          <type>orthographic</type>
          <!-- if it is set to `true` your horizontal FOV will remain as defined -->
          <!-- othervise it depends on lens type and custom function, if there is one -->
          <scale_to_hfov>true</scale_to_hfov>
          <!-- clip everything that is outside of this angle -->
          <!-- eye balled value for these cameras-->
          <cutoff_angle>2.20</cutoff_angle>
          <!-- resolution of the cubemap texture, the highter it is - the sharper is your image -->
          <env_texture_size>1024</env_texture_size>
        </lens>
      </camera>
      <plugin filename="libgazebo_ros_camera.so" name="T265_camerafisheye1">
        <alwaysOn>true</alwaysOn>
        <updateRate>30</updateRate>
        <cameraName>T265/T265_camera/fisheye1</cameraName>
        <imageTopicName>image_raw</imageTopicName>
        <cameraInfoTopicName>camera_info</cameraInfoTopicName>
        <frameName>T265_camera_fisheye1_optical_frame</frameName>
        <hackBaseline>0.07</hackBaseline>
        <distortionK1>-0.00040996368625201285</distortionK1>
        <distortionK2>0.03653175011277199</distortionK2>
        <distortionK3>0.0</distortionK3>
        <distortionP1>-0.034823670983314514</distortionP1>
        <distortionP2>0.0052825710736215115</distortionP2>
        <Cx>416.22</Cx>
        <Cy>402.1</Cy>
        <CxPrime>416.22</CxPrime>
      </plugin>
    </sensor>
  </gazebo>
  <gazebo reference="T265_camera_fisheye2_rgb_frame">
    <self_collide>0</self_collide>
    <enable_wind>0</enable_wind>
    <kinematic>0</kinematic>
    <!-- <gravity>1</gravity> -->
    <!--<mu>1</mu>-->
    <mu2>1</mu2>
    <fdir1>0 0 0</fdir1>
    <!--<slip1>0</slip1>
      <slip2>0</slip2>-->
    <kp>1e+13</kp>
    <kd>1</kd>
    <!--<max_vel>0.01</max_vel>
      <min_depth>0</min_depth>-->
    <sensor name="T265_camerafisheye2" type="wideanglecamera">
      <!-- <origin xyz="0 0 0" rpy="0 ${M_PI/2} 0"/> -->
      <update_rate>30</update_rate>
      <camera>
        <horizontal_fov>2.84</horizontal_fov>
        <image>
          <width>848</width>
          <height>800</height>
        </image>
        <clip>
          <near>0.1</near>
          <far>100</far>
        </clip>
        <lens>
          <!-- type element is mandatory -->
          <type>orthographic</type>
          <!-- if it is set to `true` your horizontal FOV will remain as defined -->
          <!-- othervise it depends on lens type and custom function, if there is one -->
          <scale_to_hfov>true</scale_to_hfov>
          <!-- clip everything that is outside of this angle -->
          <!-- eye balled value for these cameras-->
          <cutoff_angle>2.20</cutoff_angle>
          <!-- resolution of the cubemap texture, the highter it is - the sharper is your image -->
          <env_texture_size>1024</env_texture_size>
        </lens>
      </camera>
      <always_on>1</always_on>
      <plugin filename="libgazebo_ros_camera.so" name="T265_camerafisheye2">
        <alwaysOn>true</alwaysOn>
        <updateRate>30</updateRate>
        <cameraName>T265/T265_camera/fisheye2</cameraName>
        <imageTopicName>image_raw</imageTopicName>
        <cameraInfoTopicName>camera_info</cameraInfoTopicName>
        <frameName>T265_camera_fisheye2_optical_frame</frameName>
        <hackBaseline>0.07</hackBaseline>
        <distortionK1>-0.00040996368625201285</distortionK1>
        <distortionK2>0.03653175011277199</distortionK2>
        <distortionK3>0.0</distortionK3>
        <distortionP1>-0.034823670983314514</distortionP1>
        <distortionP2>0.0052825710736215115</distortionP2>
      </plugin>
    </sensor>
    <sensor name="T265_cameraaccel" type="imu">
      <always_on>true</always_on>
      <update_rate>62.5</update_rate>
      <plugin filename="librealsense_gazebo_accel_sensor.so" name="T265/T265_camera_accel_plugin">
        <topicName>T265_camera/accel/sample</topicName>
        <bodyName>T265_camera_pose_frame</bodyName>
        <updateRateHZ>62.5</updateRateHZ>
        <gaussianNoise>0.1</gaussianNoise>
        <xyzOffset>0 0 0</xyzOffset>
        <rpyOffset>0 0 0</rpyOffset>
        <frameName>T265_camera_accel_optical_frame</frameName>
        <initialOrientationAsReference>false</initialOrientationAsReference>
      </plugin>
      <pose>0 0 0 0 0 0</pose>
    </sensor>
    <sensor name="T265_cameragyro" type="imu">
      <always_on>true</always_on>
      <update_rate>200</update_rate>
      <topic>T265/T265_camera/gyro/sample</topic>
      <plugin filename="librealsense_gazebo_gyro_sensor.so" name="T265/T265_camera_gyro_plugin">
        <topicName>T265_camera/gyro/sample</topicName>
        <bodyName>T265_camera_pose_frame</bodyName>
        <updateRateHZ>200</updateRateHZ>
        <gaussianNoise>0.1</gaussianNoise>
        <xyzOffset>0 0 0</xyzOffset>
        <rpyOffset>0 0 0</rpyOffset>
        <frameName>T265_camera_gyro_optical_frame</frameName>
        <initialOrientationAsReference>false</initialOrientationAsReference>
      </plugin>
    </sensor>
  </gazebo>
  <gazebo>
    <!-- Odom from SLAM -->
    <plugin filename="libgazebo_ros_p3d.so" name="p3d_base_controller">
      <alwaysOn>true</alwaysOn>
      <updateRate>262</updateRate>
      <bodyName>T265_camera_pose_frame</bodyName>
      <topicName>T265/T265_camera/odom/sample</topicName>
      <gaussianNoise>0.01</gaussianNoise>
      <frameName>world</frameName>
      <xyzOffsets>0.0 0.0 0.25</xyzOffsets>
      <rpyOffsets>0.0 0.0 0.0</rpyOffsets>
    </plugin>
  </gazebo>
  <!-- /macro centauro_wheel -->
  <!-- /macro arms -->
  <!-- /macro legs -->
  <link name="hip1_1">
    <inertial>
      <origin xyz="0.0003595855 0.033338818000000006 -0.059190309"/>
      <mass value="2.3349153"/>
      <!-- org: 2 -->
      <inertia ixx="0.0068405374" ixy="1.8572633e-05" ixz="-4.8325972e-05" iyy="0.0026261815" iyz="0.0001564273" izz="0.0066933354"/>
    </inertial>
    <visual>
      <origin rpy="0.0 0.0 0.0" xyz="0.0 0.0 0.0"/>
      <geometry>
        <mesh filename="package://centauro_urdf/meshes/v2/hip-yaw.stl" scale="0.001 -0.001 0.001"/>
      </geometry>
      <material name="dark_grey"/>
    </visual>
    <collision>
      <origin rpy="0.0 0.0 0.0" xyz="0.0 0.0 0.0"/>
      <geometry>
        <mesh filename="package://centauro_urdf/meshes/v2/collision/hip-yaw.stl" scale="0.001 -0.001 0.001"/>
      </geometry>
    </collision>
  </link>
  <link name="hip2_1">
    <inertial>
      <origin xyz="-4.6285952e-06 -0.2214019 0.03316685"/>
      <mass value="3.4572118"/>
      <!-- org: 4.5 -->
      <inertia ixx="0.050469853" ixy="-7.784938699999999e-06" ixz="-9.220580999999999e-06" iyy="0.008181596999999999" iyz="0.0059796848" izz="0.048213808999999996"/>
    </inertial>
    <visual>
      <origin rpy="0.0 0.0 0.0" xyz="0.0 0.0 0.0"/>
      <geometry>
        <mesh filename="package://centauro_urdf/meshes/v2/hip-pitch.stl" scale="0.001 0.001 -0.001"/>
      </geometry>
    </visual>
    <collision>
      <origin rpy="0.0 0.0 0.0" xyz="0.0 0.0 0.0"/>
      <geometry>
        <mesh filename="package://centauro_urdf/meshes/v2/collision/hip-pitch.stl" scale="0.001 0.001 -0.001"/>
      </geometry>
    </collision>
  </link>
  <link name="knee_1">
    <inertial>
      <origin xyz="0.00012063381 0.14620674 0.029740711000000003"/>
      <mass value="2.1199315"/>
      <!-- org: 3.5, foot un modeled-->
      <inertia ixx="0.018426402999999997" ixy="2.8226635999999997e-05" ixz="-2.9204348e-05" iyy="0.0047685615" iyz="-0.002640771" izz="0.017793722"/>
    </inertial>
    <visual>
      <origin rpy="0.0 0.0 0.0" xyz="0.0 0.0 0.0"/>
      <geometry>
        <mesh filename="package://centauro_urdf/meshes/v2/knee.stl" scale="0.001 0.001 -0.001"/>
      </geometry>
      <material name="dark_grey"/>
    </visual>
    <collision>
      <origin rpy="0.0 0.0 0.0" xyz="0.0 0.0 0.0"/>
      <geometry>
        <mesh filename="package://centauro_urdf/meshes/v2/collision/knee.stl" scale="0.001 0.001 -0.001"/>
      </geometry>
    </collision>
  </link>
  <link name="ankle1_1">
    <inertial>
      <origin xyz="0.00012360094 -0.06274712 -0.0049068453"/>
      <mass value="1.4023368"/>
      <!-- org: 3.5, foot un modeled-->
      <inertia ixx="0.0049928829" ixy="5.762355699999999e-06" ixz="1.9606394e-05" iyy="0.0017621464" iyz="0.00045315091" izz="0.0048706328"/>
    </inertial>
    <visual>
      <origin rpy="0.0 0.0 0.0" xyz="0.0 0.0 0.0"/>
      <geometry>
        <mesh filename="package://centauro_urdf/meshes/v2/ankle-pitch.stl" scale="0.001 0.001 -0.001"/>
      </geometry>
    </visual>
    <collision>
      <origin rpy="0.0 0.0 0.0" xyz="0.0 0.0 0.0"/>
      <geometry>
        <mesh filename="package://centauro_urdf/meshes/v2/collision/ankle-pitch.stl" scale="0.001 0.001 -0.001"/>
      </geometry>
    </collision>
  </link>
  <link name="ankle2_1">
    <inertial>
      <origin xyz="0.00018512273 0.0017369405000000001 -0.091340683"/>
      <mass value="2.440929"/>
      <!-- org: 3.5, foot un modeled-->
      <inertia ixx="0.017711499" ixy="1.0713141e-05" ixz="-2.2094697e-05" iyy="0.014263485" iyz="0.00033426702" izz="0.0080747557"/>
    </inertial>
    <visual>
      <origin rpy="0.0 0.0 0.0" xyz="0.0 0.0 0.0"/>
      <geometry>
        <mesh filename="package://centauro_urdf/meshes/v2/mesh_ankle-yaw_wheel23.stl" scale="0.001 -0.001 0.001"/>
      </geometry>
      <material name="dark_grey"/>
    </visual>
    <collision>
      <origin rpy="0.0 0.0 0.0" xyz="0.0 0.0 0.0"/>
      <geometry>
        <mesh filename="package://centauro_urdf/meshes/v2/collision/mesh_ankle-yaw_wheel23.stl" scale="0.001 -0.001 0.001"/>
      </geometry>
    </collision>
  </link>
  <joint name="j_wheel_1" type="continuous">
    <parent link="ankle2_1"/>
    <child link="wheel_1"/>
    <origin rpy="1.57079632679 0.0 0.0" xyz="0.0 -0.0 -0.14435"/>
    <axis xyz="0 0 -1"/>
    <limit effort="35" velocity="20.0"/>
    <!-- 23 Nm, 1
            rad/s-->
  </joint>
  <link name="wheel_1">
    <inertial>
      <origin xyz="0.0 0.0 0.00015403767"/>
      <mass value="1.8569388"/>
      <inertia ixx="0.008637359099999999" ixy="0.0" ixz="-0.0" iyy="0.0086373644" iyz="-0.0" izz="0.016376551"/>
    </inertial>
    <visual>
      <origin rpy="0.0 0.0 0.0" xyz="0.0 0.0 0.0"/>
      <geometry>
        <mesh filename="package://centauro_urdf/meshes/v2/mesh_wheel23.stl" scale="0.001 0.001 -0.001"/>
      </geometry>
      <material name="black"/>
    </visual>
    <collision>
      <origin rpy="0 0 0" xyz="0 0 0"/>
      <geometry>
        <mesh filename="package://centauro_urdf/meshes/v2/collision/mesh_wheel23.stl" scale="0.001 0.001 -0.001"/>
      </geometry>
      <material name="black"/>
    </collision>
  </link>
  <!-- *****************************-->
  <link name="contact_1"/>
  <joint name="contact_joint_1" type="fixed">
    <parent link="ankle2_1"/>
    <child link="contact_1"/>
    <origin rpy="0 0 0" xyz="0 0 -0.176"/>
  </joint>
  <!-- ******************************** -->
  <joint name="hip_yaw_1" type="revolute">
    <parent link="pelvis"/>
    <child link="hip1_1"/>
    <origin rpy="0.0 0.0 0.0" xyz="0.25 0.125 -0.056600000000000004"/>
    <axis xyz="0 0 -1"/>
    <limit effort="304" lower="-2.03" upper="2.51" velocity="8.8"/>
    <!-- 200 Nm, 1 rad/s-->
  </joint>
  <joint name="hip_pitch_1" type="revolute">
    <parent link="hip1_1"/>
    <child link="hip2_1"/>
    <origin rpy="1.57079632679 0.0 0.0" xyz="0.0 0.1146 -0.0625"/>
    <axis xyz="0 0 -1"/>
    <limit effort="304" lower="-2.0226" upper="2.02748" velocity="8.8"/>
    <!-- 200 Nm, 1 rad/s-->
  </joint>
  <joint name="knee_pitch_1" type="revolute">
    <parent link="hip2_1"/>
    <child link="knee_1"/>
    <origin rpy="3.14159265359 0.0 0.0" xyz="0.0 -0.3 0.1182"/>
    <axis xyz="0 0 -1"/>
    <limit effort="304" lower="-2.4056" upper="2.3994" velocity="8.8"/>
    <!-- 200 Nm, 1 rad/s-->
  </joint>
  <joint name="ankle_pitch_1" type="revolute">
    <parent link="knee_1"/>
    <child link="ankle1_1"/>
    <origin rpy="3.14159265359 0.0 0.0" xyz="0.0 0.2 0.10015"/>
    <axis xyz="0 0 -1"/>
    <limit effort="147" lower="-2.4056" upper="2.3184" velocity="8.1"/>
    <!-- 98 Nm, 1 rad/s-->
  </joint>
  <joint name="ankle_yaw_1" type="revolute">
    <parent link="ankle1_1"/>
    <child link="ankle2_1"/>
    <origin rpy="-1.57079632679 0.0 0.0" xyz="0.0 -0.139 -0.00085"/>
    <axis xyz="0 0 -1"/>
    <limit effort="35" lower="-2.5626" upper="2.5384" velocity="20.0"/>
    <!-- 23 Nm, 1 rad/s-->
  </joint>
  <link name="hip1_2">
    <inertial>
      <origin xyz="0.0003595855 -0.033338818000000006 -0.059190309"/>
      <mass value="2.3349153"/>
      <!-- org: 2 -->
      <inertia ixx="0.0068405374" ixy="-1.8572633e-05" ixz="-4.8325972e-05" iyy="0.0026261815" iyz="-0.0001564273" izz="0.0066933354"/>
    </inertial>
    <visual>
      <origin rpy="0.0 0.0 0.0" xyz="0.0 0.0 0.0"/>
      <geometry>
        <mesh filename="package://centauro_urdf/meshes/v2/hip-yaw.stl" scale="0.001 0.001 0.001"/>
      </geometry>
      <material name="dark_grey"/>
    </visual>
    <collision>
      <origin rpy="0.0 0.0 0.0" xyz="0.0 0.0 0.0"/>
      <geometry>
        <mesh filename="package://centauro_urdf/meshes/v2/collision/hip-yaw.stl" scale="0.001 0.001 0.001"/>
      </geometry>
    </collision>
  </link>
  <link name="hip2_2">
    <inertial>
      <origin xyz="-4.6285952e-06 -0.2214019 -0.03316685"/>
      <mass value="3.4572118"/>
      <!-- org: 4.5 -->
      <inertia ixx="0.050469853" ixy="-7.784938699999999e-06" ixz="9.220580999999999e-06" iyy="0.008181596999999999" iyz="-0.0059796848" izz="0.048213808999999996"/>
    </inertial>
    <visual>
      <origin rpy="0.0 0.0 0.0" xyz="0.0 0.0 0.0"/>
      <geometry>
        <mesh filename="package://centauro_urdf/meshes/v2/hip-pitch.stl" scale="0.001 0.001 0.001"/>
      </geometry>
    </visual>
    <collision>
      <origin rpy="0.0 0.0 0.0" xyz="0.0 0.0 0.0"/>
      <geometry>
        <mesh filename="package://centauro_urdf/meshes/v2/collision/hip-pitch.stl" scale="0.001 0.001 0.001"/>
      </geometry>
    </collision>
  </link>
  <link name="knee_2">
    <inertial>
      <origin xyz="0.00012063381 0.14620674 -0.029740711000000003"/>
      <mass value="2.1199315"/>
      <!-- org: 3.5, foot un modeled-->
      <inertia ixx="0.018426402999999997" ixy="2.8226635999999997e-05" ixz="2.9204348e-05" iyy="0.0047685615" iyz="0.002640771" izz="0.017793722"/>
    </inertial>
    <visual>
      <origin rpy="0.0 0.0 0.0" xyz="0.0 0.0 0.0"/>
      <geometry>
        <mesh filename="package://centauro_urdf/meshes/v2/knee.stl" scale="0.001 0.001 0.001"/>
      </geometry>
      <material name="dark_grey"/>
    </visual>
    <collision>
      <origin rpy="0.0 0.0 0.0" xyz="0.0 0.0 0.0"/>
      <geometry>
        <mesh filename="package://centauro_urdf/meshes/v2/collision/knee.stl" scale="0.001 0.001 0.001"/>
      </geometry>
    </collision>
  </link>
  <link name="ankle1_2">
    <inertial>
      <origin xyz="0.00012360094 -0.06274712 0.0049068453"/>
      <mass value="1.4023368"/>
      <!-- org: 3.5, foot un modeled-->
      <inertia ixx="0.0049928829" ixy="5.762355699999999e-06" ixz="-1.9606394e-05" iyy="0.0017621464" iyz="-0.00045315091" izz="0.0048706328"/>
    </inertial>
    <visual>
      <origin rpy="0.0 0.0 0.0" xyz="0.0 0.0 0.0"/>
      <geometry>
        <mesh filename="package://centauro_urdf/meshes/v2/ankle-pitch.stl" scale="0.001 0.001 0.001"/>
      </geometry>
    </visual>
    <collision>
      <origin rpy="0.0 0.0 0.0" xyz="0.0 0.0 0.0"/>
      <geometry>
        <mesh filename="package://centauro_urdf/meshes/v2/collision/ankle-pitch.stl" scale="0.001 0.001 0.001"/>
      </geometry>
    </collision>
  </link>
  <link name="ankle2_2">
    <inertial>
      <origin xyz="0.00018512273 -0.0017369405000000001 -0.091340683"/>
      <mass value="2.440929"/>
      <!-- org: 3.5, foot un modeled-->
      <inertia ixx="0.017711499" ixy="-1.0713141e-05" ixz="-2.2094697e-05" iyy="0.014263485" iyz="-0.00033426702" izz="0.0080747557"/>
    </inertial>
    <visual>
      <origin rpy="0.0 0.0 0.0" xyz="0.0 0.0 0.0"/>
      <geometry>
        <mesh filename="package://centauro_urdf/meshes/v2/mesh_ankle-yaw_wheel23.stl" scale="0.001 0.001 0.001"/>
      </geometry>
      <material name="dark_grey"/>
    </visual>
    <collision>
      <origin rpy="0.0 0.0 0.0" xyz="0.0 0.0 0.0"/>
      <geometry>
        <mesh filename="package://centauro_urdf/meshes/v2/collision/mesh_ankle-yaw_wheel23.stl" scale="0.001 0.001 0.001"/>
      </geometry>
    </collision>
  </link>
  <joint name="j_wheel_2" type="continuous">
    <parent link="ankle2_2"/>
    <child link="wheel_2"/>
    <origin rpy="1.57079632679 0.0 0.0" xyz="0.0 0.0 -0.14435"/>
    <axis xyz="0 0 1"/>
    <limit effort="35" velocity="20.0"/>
    <!-- 23 Nm, 1
            rad/s-->
  </joint>
  <link name="wheel_2">
    <inertial>
      <origin xyz="0.0 0.0 -0.00015403767"/>
      <mass value="1.8569388"/>
      <inertia ixx="0.008637359099999999" ixy="0.0" ixz="0.0" iyy="0.0086373644" iyz="0.0" izz="0.016376551"/>
    </inertial>
    <visual>
      <origin rpy="0.0 0.0 0.0" xyz="0.0 0.0 0.0"/>
      <geometry>
        <mesh filename="package://centauro_urdf/meshes/v2/mesh_wheel23.stl" scale="0.001 0.001 0.001"/>
      </geometry>
      <material name="black"/>
    </visual>
    <collision>
      <origin rpy="0 0 0" xyz="0 0 0"/>
      <geometry>
        <mesh filename="package://centauro_urdf/meshes/v2/collision/mesh_wheel23.stl" scale="0.001 0.001 0.001"/>
      </geometry>
      <material name="black"/>
    </collision>
  </link>
  <!-- *****************************-->
  <link name="contact_2"/>
  <joint name="contact_joint_2" type="fixed">
    <parent link="ankle2_2"/>
    <child link="contact_2"/>
    <origin rpy="0 0 0" xyz="0 0 -0.176"/>
  </joint>
  <!-- ******************************** -->
  <joint name="hip_yaw_2" type="revolute">
    <parent link="pelvis"/>
    <child link="hip1_2"/>
    <origin rpy="0.0 0.0 0.0" xyz="0.25 -0.125 -0.056600000000000004"/>
    <axis xyz="0 0 -1"/>
    <limit effort="304" lower="-2.51" upper="2.03" velocity="8.8"/>
    <!-- 200 Nm, 1 rad/s-->
  </joint>
  <joint name="hip_pitch_2" type="revolute">
    <parent link="hip1_2"/>
    <child link="hip2_2"/>
    <origin rpy="1.57079632679 0.0 0.0" xyz="0.0 -0.1146 -0.0625"/>
    <axis xyz="0 0 1"/>
    <limit effort="304" lower="-2.0156" upper="2.0354" velocity="8.8"/>
    <!-- 200 Nm, 1 rad/s-->
  </joint>
  <joint name="knee_pitch_2" type="revolute">
    <parent link="hip2_2"/>
    <child link="knee_2"/>
    <origin rpy="3.14159265359 0.0 0.0" xyz="0.0 -0.3 -0.1182"/>
    <axis xyz="0 0 1"/>
    <limit effort="304" lower="-2.4006" upper="2.4034" velocity="8.8"/>
    <!-- 200 Nm, 1 rad/s-->
  </joint>
  <joint name="ankle_pitch_2" type="revolute">
    <parent link="knee_2"/>
    <child link="ankle1_2"/>
    <origin rpy="3.14159265359 0.0 0.0" xyz="0.0 0.2 -0.10015"/>
    <axis xyz="0 0 1"/>
    <limit effort="147" lower="-2.3266" upper="2.3914" velocity="8.1"/>
    <!-- 98 Nm, 1 rad/s-->
  </joint>
  <joint name="ankle_yaw_2" type="revolute">
    <parent link="ankle1_2"/>
    <child link="ankle2_2"/>
    <origin rpy="-1.57079632679 0.0 0.0" xyz="0.0 -0.139 0.00085"/>
    <axis xyz="0 0 -1"/>
    <limit effort="35" lower="-2.5546" upper="2.5484" velocity="20.0"/>
    <!-- 23 Nm, 1 rad/s-->
  </joint>
  <link name="hip1_3">
    <inertial>
      <origin xyz="0.0003595855 0.033338818000000006 -0.059190309"/>
      <mass value="2.3349153"/>
      <!-- org: 2 -->
      <inertia ixx="0.0068405374" ixy="1.8572633e-05" ixz="-4.8325972e-05" iyy="0.0026261815" iyz="0.0001564273" izz="0.0066933354"/>
    </inertial>
    <visual>
      <origin rpy="0.0 0.0 0.0" xyz="0.0 0.0 0.0"/>
      <geometry>
        <mesh filename="package://centauro_urdf/meshes/v2/hip-yaw.stl" scale="0.001 -0.001 0.001"/>
      </geometry>
      <material name="dark_grey"/>
    </visual>
    <collision>
      <origin rpy="0.0 0.0 0.0" xyz="0.0 0.0 0.0"/>
      <geometry>
        <mesh filename="package://centauro_urdf/meshes/v2/collision/hip-yaw.stl" scale="0.001 -0.001 0.001"/>
      </geometry>
    </collision>
  </link>
  <link name="hip2_3">
    <inertial>
      <origin xyz="-4.6285952e-06 -0.2214019 0.03316685"/>
      <mass value="3.4572118"/>
      <!-- org: 4.5 -->
      <inertia ixx="0.050469853" ixy="-7.784938699999999e-06" ixz="-9.220580999999999e-06" iyy="0.008181596999999999" iyz="0.0059796848" izz="0.048213808999999996"/>
    </inertial>
    <visual>
      <origin rpy="0.0 0.0 0.0" xyz="0.0 0.0 0.0"/>
      <geometry>
        <mesh filename="package://centauro_urdf/meshes/v2/hip-pitch.stl" scale="0.001 0.001 -0.001"/>
      </geometry>
    </visual>
    <collision>
      <origin rpy="0.0 0.0 0.0" xyz="0.0 0.0 0.0"/>
      <geometry>
        <mesh filename="package://centauro_urdf/meshes/v2/collision/hip-pitch.stl" scale="0.001 0.001 -0.001"/>
      </geometry>
    </collision>
  </link>
  <link name="knee_3">
    <inertial>
      <origin xyz="0.00012063381 0.14620674 0.029740711000000003"/>
      <mass value="2.1199315"/>
      <!-- org: 3.5, foot un modeled-->
      <inertia ixx="0.018426402999999997" ixy="2.8226635999999997e-05" ixz="-2.9204348e-05" iyy="0.0047685615" iyz="-0.002640771" izz="0.017793722"/>
    </inertial>
    <visual>
      <origin rpy="0.0 0.0 0.0" xyz="0.0 0.0 0.0"/>
      <geometry>
        <mesh filename="package://centauro_urdf/meshes/v2/knee.stl" scale="0.001 0.001 -0.001"/>
      </geometry>
      <material name="dark_grey"/>
    </visual>
    <collision>
      <origin rpy="0.0 0.0 0.0" xyz="0.0 0.0 0.0"/>
      <geometry>
        <mesh filename="package://centauro_urdf/meshes/v2/collision/knee.stl" scale="0.001 0.001 -0.001"/>
      </geometry>
    </collision>
  </link>
  <link name="ankle1_3">
    <inertial>
      <origin xyz="0.00012360094 -0.06274712 -0.0049068453"/>
      <mass value="1.4023368"/>
      <!-- org: 3.5, foot un modeled-->
      <inertia ixx="0.0049928829" ixy="5.762355699999999e-06" ixz="1.9606394e-05" iyy="0.0017621464" iyz="0.00045315091" izz="0.0048706328"/>
    </inertial>
    <visual>
      <origin rpy="0.0 0.0 0.0" xyz="0.0 0.0 0.0"/>
      <geometry>
        <mesh filename="package://centauro_urdf/meshes/v2/ankle-pitch.stl" scale="0.001 0.001 -0.001"/>
      </geometry>
    </visual>
    <collision>
      <origin rpy="0.0 0.0 0.0" xyz="0.0 0.0 0.0"/>
      <geometry>
        <mesh filename="package://centauro_urdf/meshes/v2/collision/ankle-pitch.stl" scale="0.001 0.001 -0.001"/>
      </geometry>
    </collision>
  </link>
  <link name="ankle2_3">
    <inertial>
      <origin xyz="0.00018512273 0.0017369405000000001 -0.091340683"/>
      <mass value="2.440929"/>
      <!-- org: 3.5, foot un modeled-->
      <inertia ixx="0.017711499" ixy="1.0713141e-05" ixz="-2.2094697e-05" iyy="0.014263485" iyz="0.00033426702" izz="0.0080747557"/>
    </inertial>
    <visual>
      <origin rpy="0.0 0.0 0.0" xyz="0.0 0.0 0.0"/>
      <geometry>
        <mesh filename="package://centauro_urdf/meshes/v2/mesh_ankle-yaw_wheel23.stl" scale="0.001 -0.001 0.001"/>
      </geometry>
      <material name="dark_grey"/>
    </visual>
    <collision>
      <origin rpy="0.0 0.0 0.0" xyz="0.0 0.0 0.0"/>
      <geometry>
        <mesh filename="package://centauro_urdf/meshes/v2/collision/mesh_ankle-yaw_wheel23.stl" scale="0.001 -0.001 0.001"/>
      </geometry>
    </collision>
  </link>
  <joint name="j_wheel_3" type="continuous">
    <parent link="ankle2_3"/>
    <child link="wheel_3"/>
    <origin rpy="1.57079632679 0.0 0.0" xyz="0.0 -0.0 -0.14435"/>
    <axis xyz="0 0 -1"/>
    <limit effort="35" velocity="20.0"/>
    <!-- 23 Nm, 1
            rad/s-->
  </joint>
  <link name="wheel_3">
    <inertial>
      <origin xyz="0.0 0.0 0.00015403767"/>
      <mass value="1.8569388"/>
      <inertia ixx="0.008637359099999999" ixy="0.0" ixz="-0.0" iyy="0.0086373644" iyz="-0.0" izz="0.016376551"/>
    </inertial>
    <visual>
      <origin rpy="0.0 0.0 0.0" xyz="0.0 0.0 0.0"/>
      <geometry>
        <mesh filename="package://centauro_urdf/meshes/v2/mesh_wheel23.stl" scale="0.001 0.001 -0.001"/>
      </geometry>
      <material name="black"/>
    </visual>
    <collision>
      <origin rpy="0 0 0" xyz="0 0 0"/>
      <geometry>
        <mesh filename="package://centauro_urdf/meshes/v2/collision/mesh_wheel23.stl" scale="0.001 0.001 -0.001"/>
      </geometry>
      <material name="black"/>
    </collision>
  </link>
  <!-- *****************************-->
  <link name="contact_3"/>
  <joint name="contact_joint_3" type="fixed">
    <parent link="ankle2_3"/>
    <child link="contact_3"/>
    <origin rpy="0 0 0" xyz="0 0 -0.176"/>
  </joint>
  <!-- ******************************** -->
  <joint name="hip_yaw_3" type="revolute">
    <parent link="pelvis"/>
    <child link="hip1_3"/>
    <origin rpy="0.0 0.0 0.0" xyz="-0.25 0.125 -0.056600000000000004"/>
    <axis xyz="0 0 -1"/>
    <limit effort="304" lower="-2.51" upper="2.03" velocity="8.8"/>
    <!-- 200 Nm, 1 rad/s-->
  </joint>
  <joint name="hip_pitch_3" type="revolute">
    <parent link="hip1_3"/>
    <child link="hip2_3"/>
    <origin rpy="1.57079632679 0.0 0.0" xyz="0.0 0.1146 -0.0625"/>
    <axis xyz="0 0 -1"/>
    <limit effort="304" lower="-2.0126" upper="2.0384" velocity="8.8"/>
    <!-- 200 Nm, 1 rad/s-->
  </joint>
  <joint name="knee_pitch_3" type="revolute">
    <parent link="hip2_3"/>
    <child link="knee_3"/>
    <origin rpy="3.14159265359 0.0 0.0" xyz="0.0 -0.3 0.1182"/>
    <axis xyz="0 0 -1"/>
    <limit effort="304" lower="-2.4056" upper="2.4064" velocity="8.8"/>
    <!-- 200 Nm, 1 rad/s-->
  </joint>
  <joint name="ankle_pitch_3" type="revolute">
    <parent link="knee_3"/>
    <child link="ankle1_3"/>
    <origin rpy="3.14159265359 0.0 0.0" xyz="0.0 0.2 0.10015"/>
    <axis xyz="0 0 -1"/>
    <limit effort="147" lower="-2.4696" upper="2.4464" velocity="8.1"/>
    <!-- 98 Nm, 1 rad/s-->
  </joint>
  <joint name="ankle_yaw_3" type="revolute">
    <parent link="ankle1_3"/>
    <child link="ankle2_3"/>
    <origin rpy="-1.57079632679 0.0 0.0" xyz="0.0 -0.139 -0.00085"/>
    <axis xyz="0 0 -1"/>
    <limit effort="35" lower="-2.5606" upper="2.5454" velocity="20.0"/>
    <!-- 23 Nm, 1 rad/s-->
  </joint>
  <link name="hip1_4">
    <inertial>
      <origin xyz="0.0003595855 -0.033338818000000006 -0.059190309"/>
      <mass value="2.3349153"/>
      <!-- org: 2 -->
      <inertia ixx="0.0068405374" ixy="-1.8572633e-05" ixz="-4.8325972e-05" iyy="0.0026261815" iyz="-0.0001564273" izz="0.0066933354"/>
    </inertial>
    <visual>
      <origin rpy="0.0 0.0 0.0" xyz="0.0 0.0 0.0"/>
      <geometry>
        <mesh filename="package://centauro_urdf/meshes/v2/hip-yaw.stl" scale="0.001 0.001 0.001"/>
      </geometry>
      <material name="dark_grey"/>
    </visual>
    <collision>
      <origin rpy="0.0 0.0 0.0" xyz="0.0 0.0 0.0"/>
      <geometry>
        <mesh filename="package://centauro_urdf/meshes/v2/collision/hip-yaw.stl" scale="0.001 0.001 0.001"/>
      </geometry>
    </collision>
  </link>
  <link name="hip2_4">
    <inertial>
      <origin xyz="-4.6285952e-06 -0.2214019 -0.03316685"/>
      <mass value="3.4572118"/>
      <!-- org: 4.5 -->
      <inertia ixx="0.050469853" ixy="-7.784938699999999e-06" ixz="9.220580999999999e-06" iyy="0.008181596999999999" iyz="-0.0059796848" izz="0.048213808999999996"/>
    </inertial>
    <visual>
      <origin rpy="0.0 0.0 0.0" xyz="0.0 0.0 0.0"/>
      <geometry>
        <mesh filename="package://centauro_urdf/meshes/v2/hip-pitch.stl" scale="0.001 0.001 0.001"/>
      </geometry>
    </visual>
    <collision>
      <origin rpy="0.0 0.0 0.0" xyz="0.0 0.0 0.0"/>
      <geometry>
        <mesh filename="package://centauro_urdf/meshes/v2/collision/hip-pitch.stl" scale="0.001 0.001 0.001"/>
      </geometry>
    </collision>
  </link>
  <link name="knee_4">
    <inertial>
      <origin xyz="0.00012063381 0.14620674 -0.029740711000000003"/>
      <mass value="2.1199315"/>
      <!-- org: 3.5, foot un modeled-->
      <inertia ixx="0.018426402999999997" ixy="2.8226635999999997e-05" ixz="2.9204348e-05" iyy="0.0047685615" iyz="0.002640771" izz="0.017793722"/>
    </inertial>
    <visual>
      <origin rpy="0.0 0.0 0.0" xyz="0.0 0.0 0.0"/>
      <geometry>
        <mesh filename="package://centauro_urdf/meshes/v2/knee.stl" scale="0.001 0.001 0.001"/>
      </geometry>
      <material name="dark_grey"/>
    </visual>
    <collision>
      <origin rpy="0.0 0.0 0.0" xyz="0.0 0.0 0.0"/>
      <geometry>
        <mesh filename="package://centauro_urdf/meshes/v2/collision/knee.stl" scale="0.001 0.001 0.001"/>
      </geometry>
    </collision>
  </link>
  <link name="ankle1_4">
    <inertial>
      <origin xyz="0.00012360094 -0.06274712 0.0049068453"/>
      <mass value="1.4023368"/>
      <!-- org: 3.5, foot un modeled-->
      <inertia ixx="0.0049928829" ixy="5.762355699999999e-06" ixz="-1.9606394e-05" iyy="0.0017621464" iyz="-0.00045315091" izz="0.0048706328"/>
    </inertial>
    <visual>
      <origin rpy="0.0 0.0 0.0" xyz="0.0 0.0 0.0"/>
      <geometry>
        <mesh filename="package://centauro_urdf/meshes/v2/ankle-pitch.stl" scale="0.001 0.001 0.001"/>
      </geometry>
    </visual>
    <collision>
      <origin rpy="0.0 0.0 0.0" xyz="0.0 0.0 0.0"/>
      <geometry>
        <mesh filename="package://centauro_urdf/meshes/v2/collision/ankle-pitch.stl" scale="0.001 0.001 0.001"/>
      </geometry>
    </collision>
  </link>
  <link name="ankle2_4">
    <inertial>
      <origin xyz="0.00018512273 -0.0017369405000000001 -0.091340683"/>
      <mass value="2.440929"/>
      <!-- org: 3.5, foot un modeled-->
      <inertia ixx="0.017711499" ixy="-1.0713141e-05" ixz="-2.2094697e-05" iyy="0.014263485" iyz="-0.00033426702" izz="0.0080747557"/>
    </inertial>
    <visual>
      <origin rpy="0.0 0.0 0.0" xyz="0.0 0.0 0.0"/>
      <geometry>
        <mesh filename="package://centauro_urdf/meshes/v2/mesh_ankle-yaw_wheel23.stl" scale="0.001 0.001 0.001"/>
      </geometry>
      <material name="dark_grey"/>
    </visual>
    <collision>
      <origin rpy="0.0 0.0 0.0" xyz="0.0 0.0 0.0"/>
      <geometry>
        <mesh filename="package://centauro_urdf/meshes/v2/collision/mesh_ankle-yaw_wheel23.stl" scale="0.001 0.001 0.001"/>
      </geometry>
    </collision>
  </link>
  <joint name="j_wheel_4" type="continuous">
    <parent link="ankle2_4"/>
    <child link="wheel_4"/>
    <origin rpy="1.57079632679 0.0 0.0" xyz="0.0 0.0 -0.14435"/>
    <axis xyz="0 0 1"/>
    <limit effort="35" velocity="20.0"/>
    <!-- 23 Nm, 1
            rad/s-->
  </joint>
  <link name="wheel_4">
    <inertial>
      <origin xyz="0.0 0.0 -0.00015403767"/>
      <mass value="1.8569388"/>
      <inertia ixx="0.008637359099999999" ixy="0.0" ixz="0.0" iyy="0.0086373644" iyz="0.0" izz="0.016376551"/>
    </inertial>
    <visual>
      <origin rpy="0.0 0.0 0.0" xyz="0.0 0.0 0.0"/>
      <geometry>
        <mesh filename="package://centauro_urdf/meshes/v2/mesh_wheel23.stl" scale="0.001 0.001 0.001"/>
      </geometry>
      <material name="black"/>
    </visual>
    <collision>
      <origin rpy="0 0 0" xyz="0 0 0"/>
      <geometry>
        <mesh filename="package://centauro_urdf/meshes/v2/collision/mesh_wheel23.stl" scale="0.001 0.001 0.001"/>
      </geometry>
      <material name="black"/>
    </collision>
  </link>
  <!-- *****************************-->
  <link name="contact_4"/>
  <joint name="contact_joint_4" type="fixed">
    <parent link="ankle2_4"/>
    <child link="contact_4"/>
    <origin rpy="0 0 0" xyz="0 0 -0.176"/>
  </joint>
  <!-- ******************************** -->
  <joint name="hip_yaw_4" type="revolute">
    <parent link="pelvis"/>
    <child link="hip1_4"/>
    <origin rpy="0.0 0.0 0.0" xyz="-0.25 -0.125 -0.056600000000000004"/>
    <axis xyz="0 0 -1"/>
    <limit effort="304" lower="-2.03" upper="2.51" velocity="8.8"/>
    <!-- 200 Nm, 1 rad/s-->
  </joint>
  <joint name="hip_pitch_4" type="revolute">
    <parent link="hip1_4"/>
    <child link="hip2_4"/>
    <origin rpy="1.57079632679 0.0 0.0" xyz="0.0 -0.1146 -0.0625"/>
    <axis xyz="0 0 1"/>
    <limit effort="304" lower="-2.0326" upper="2.0524" velocity="8.8"/>
    <!-- 200 Nm, 1 rad/s-->
  </joint>
  <joint name="knee_pitch_4" type="revolute">
    <parent link="hip2_4"/>
    <child link="knee_4"/>
    <origin rpy="3.14159265359 0.0 0.0" xyz="0.0 -0.3 -0.1182"/>
    <axis xyz="0 0 1"/>
    <limit effort="304" lower="-2.4176" upper="2.3884" velocity="8.8"/>
    <!-- 200 Nm, 1 rad/s-->
  </joint>
  <joint name="ankle_pitch_4" type="revolute">
    <parent link="knee_4"/>
    <child link="ankle1_4"/>
    <origin rpy="3.14159265359 0.0 0.0" xyz="0.0 0.2 -0.10015"/>
    <axis xyz="0 0 1"/>
    <limit effort="147" lower="-2.3426" upper="2.3934" velocity="8.1"/>
    <!-- 98 Nm, 1 rad/s-->
  </joint>
  <joint name="ankle_yaw_4" type="revolute">
    <parent link="ankle1_4"/>
    <child link="ankle2_4"/>
    <origin rpy="-1.57079632679 0.0 0.0" xyz="0.0 -0.139 0.00085"/>
    <axis xyz="0 0 -1"/>
    <limit effort="35" lower="-2.6046" upper="2.5514" velocity="20.0"/>
    <!-- 23 Nm, 1 rad/s-->
  </joint>
  <!-- ************ Control frames ************ -->
  <link name="world"/>
  <joint name="reference" type="floating">
    <parent link="world"/>
    <child link="pelvis"/>
  </joint>
</robot>
